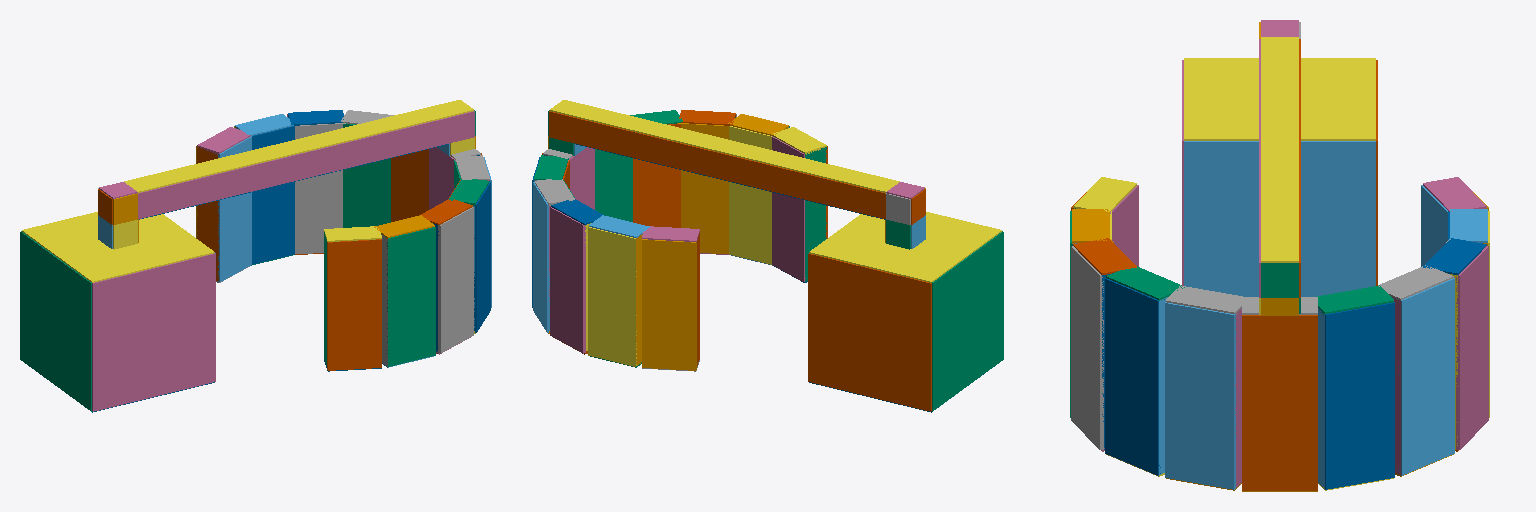
--- What the picture shows (computed from the rendered views, not written in the file) ---
The picture shows the robot from 3 angles, left to right: view 1: azimuth 30°, elevation 25°; view 2: azimuth 150°, elevation 25°; view 3: azimuth 270°, elevation 25°; orthographic projection.
Robot: robot — 105 links, 104 joints (2 continuous, 102 fixed); root link body; default pose: every joint at zero.
Links seen in each view (by area): view 1: body_sensor_0_right, body_sensor_0_stop, arm_sensor_0_right, hand_part_11_sensor_0_left, body_sensor_0_top, hand_part_12_sensor_0_left, arm_sensor_0_top, hand_part_13_sensor_0_left, hand_part_4_sensor_0_right, hand_part_3_sensor_0_right, hand_part_2_sensor_0_right, hand_part_5_sensor_0_right (+15 smaller); view 2: body_sensor_0_left, body_sensor_0_stop, arm_sensor_0_left, hand_part_5_sensor_0_left, body_sensor_0_top, hand_part_4_sensor_0_left, arm_sensor_0_top, hand_part_3_sensor_0_left, hand_part_12_sensor_0_right, hand_part_13_sensor_0_right, hand_part_14_sensor_0_right, hand_part_11_sensor_0_right (+15 smaller); view 3: body_sensor_0_start, hand_part_0_sensor_0_start, hand_part_15_sensor_0_left, body_sensor_0_top, hand_part_1_sensor_0_left, hand_part_2_sensor_0_left, hand_part_14_sensor_0_left, arm_sensor_0_top, hand_part_3_sensor_0_left, hand_part_13_sensor_0_left, hand_part_11_sensor_0_right, hand_part_5_sensor_0_right (+18 smaller).
Link boxes in pixels (bbox=[...]): body_sensor_0_right: bbox=[92, 253, 215, 411]; body_sensor_0_stop: bbox=[20, 231, 91, 411]; arm_sensor_0_right: bbox=[138, 111, 474, 218]; hand_part_11_sensor_0_left: bbox=[327, 239, 381, 370]; body_sensor_0_top: bbox=[22, 212, 214, 282]; hand_part_12_sensor_0_left: bbox=[387, 227, 435, 366]; arm_sensor_0_top: bbox=[124, 100, 473, 192]; hand_part_13_sensor_0_left: bbox=[438, 207, 473, 353]; hand_part_4_sensor_0_right: bbox=[252, 126, 294, 264]; hand_part_3_sensor_0_right: bbox=[295, 123, 345, 253]; hand_part_2_sensor_0_right: bbox=[343, 123, 390, 227]; hand_part_5_sensor_0_right: bbox=[218, 136, 251, 281]; body_sensor_0_left: bbox=[808, 253, 931, 411]; body_sensor_0_stop: bbox=[932, 231, 1003, 411]; arm_sensor_0_left: bbox=[549, 111, 885, 218]; hand_part_5_sensor_0_left: bbox=[642, 239, 696, 370]; body_sensor_0_top: bbox=[809, 212, 1001, 282]; hand_part_4_sensor_0_left: bbox=[588, 227, 636, 366]; arm_sensor_0_top: bbox=[550, 100, 899, 192]; hand_part_3_sensor_0_left: bbox=[550, 207, 585, 353]; hand_part_12_sensor_0_right: bbox=[729, 126, 771, 264]; hand_part_13_sensor_0_right: bbox=[678, 123, 728, 253]; hand_part_14_sensor_0_right: bbox=[633, 123, 680, 227]; hand_part_11_sensor_0_right: bbox=[772, 136, 805, 281]; body_sensor_0_start: bbox=[1184, 141, 1375, 296]; hand_part_0_sensor_0_start: bbox=[1242, 315, 1317, 490]; hand_part_15_sensor_0_left: bbox=[1165, 302, 1235, 489]; body_sensor_0_top: bbox=[1184, 58, 1375, 140]; hand_part_1_sensor_0_left: bbox=[1325, 302, 1394, 489]; hand_part_2_sensor_0_left: bbox=[1399, 278, 1454, 475]; hand_part_14_sensor_0_left: bbox=[1105, 278, 1160, 475]; arm_sensor_0_top: bbox=[1261, 37, 1298, 262]; hand_part_3_sensor_0_left: bbox=[1456, 246, 1488, 449]; hand_part_13_sensor_0_left: bbox=[1071, 246, 1103, 449]; hand_part_11_sensor_0_right: bbox=[1110, 185, 1138, 266]; hand_part_5_sensor_0_right: bbox=[1421, 185, 1447, 266].
Size in the robot's own frame: 3.37 by 2.18 by 1.42 metres.
Geometry: primitives only (box / cylinder / sphere), no mesh files.

The robot description file, URDF, robot "robot":
<?xml version="1.0"?>
    <robot name="robot">


    <!-- body -->
    <link name="body">
        <inertial>
            <origin xyz="0 0 0" rpy="0 0 0"/>
            <mass value="100"/>
            <inertia ixx=".1" ixy=".1" ixz=".1" iyy=".1" iyz=".1" izz=".1"/>
        </inertial>
        <visual>
            <origin xyz="0 0 0" rpy="0 0 0"/>
            <geometry>
                <box size="1 1 1"/>
            </geometry>
        </visual>
        <collision>
            <origin xyz="0 0 0" rpy="0 0 0"/>
            <geometry>
                <box size="1 1 1"/>
            </geometry>
        </collision>
    </link>


    <!-- body_sensor_0_start -->
    <link name="body_sensor_0_start">
        <inertial>
            <origin xyz="0 0 0" rpy="0 0 0"/>
            <mass value="0"/>
            <inertia ixx=".1" ixy=".1" ixz=".1" iyy=".1" iyz=".1" izz=".1"/>
        </inertial>
        <visual>
            <origin xyz="0 0 0" rpy="0 0 0"/>
            <geometry>
                <box size="0.02 1 1"/>
            </geometry>
        </visual>
        <collision>
            <origin xyz="0 0 0" rpy="0 0 0"/>
            <geometry>
                <box size="0.02 1 1"/>
            </geometry>
        </collision>
    </link>
    <!-- Joint: body, body_sensor_0_start -->
    <joint name="body_body_sensor_0_start_joint" type="fixed">
        <parent link="body"/>
        <child link="body_sensor_0_start"/>
        <origin xyz="0.5 0 0"
                rpy="0 0 0"/>
        <axis xyz="0 0 1"/>
        
    </joint>


    <!-- body_sensor_0_stop -->
    <link name="body_sensor_0_stop">
        <inertial>
            <origin xyz="0 0 0" rpy="0 0 0"/>
            <mass value="0"/>
            <inertia ixx=".1" ixy=".1" ixz=".1" iyy=".1" iyz=".1" izz=".1"/>
        </inertial>
        <visual>
            <origin xyz="0 0 0" rpy="0 0 0"/>
            <geometry>
                <box size="0.02 1 1"/>
            </geometry>
        </visual>
        <collision>
            <origin xyz="0 0 0" rpy="0 0 0"/>
            <geometry>
                <box size="0.02 1 1"/>
            </geometry>
        </collision>
    </link>
    <!-- Joint: body, body_sensor_0_stop -->
    <joint name="body_body_sensor_0_stop_joint" type="fixed">
        <parent link="body"/>
        <child link="body_sensor_0_stop"/>
        <origin xyz="-0.5 0 0"
                rpy="0 0 0"/>
        <axis xyz="0 0 1"/>
        
    </joint>


    <!-- body_sensor_0_top -->
    <link name="body_sensor_0_top">
        <inertial>
            <origin xyz="0 0 0" rpy="0 0 0"/>
            <mass value="0"/>
            <inertia ixx=".1" ixy=".1" ixz=".1" iyy=".1" iyz=".1" izz=".1"/>
        </inertial>
        <visual>
            <origin xyz="0 0 0" rpy="0 0 0"/>
            <geometry>
                <box size="1.0 1 0.02"/>
            </geometry>
        </visual>
        <collision>
            <origin xyz="0 0 0" rpy="0 0 0"/>
            <geometry>
                <box size="1.0 1 0.02"/>
            </geometry>
        </collision>
    </link>
    <!-- Joint: body, body_sensor_0_top -->
    <joint name="body_body_sensor_0_top_joint" type="fixed">
        <parent link="body"/>
        <child link="body_sensor_0_top"/>
        <origin xyz="0 0 0.5"
                rpy="0 0 0"/>
        <axis xyz="0 0 1"/>
        
    </joint>


    <!-- body_sensor_0_bottom -->
    <link name="body_sensor_0_bottom">
        <inertial>
            <origin xyz="0 0 0" rpy="0 0 0"/>
            <mass value="0"/>
            <inertia ixx=".1" ixy=".1" ixz=".1" iyy=".1" iyz=".1" izz=".1"/>
        </inertial>
        <visual>
            <origin xyz="0 0 0" rpy="0 0 0"/>
            <geometry>
                <box size="1.0 1 0.02"/>
            </geometry>
        </visual>
        <collision>
            <origin xyz="0 0 0" rpy="0 0 0"/>
            <geometry>
                <box size="1.0 1 0.02"/>
            </geometry>
        </collision>
    </link>
    <!-- Joint: body, body_sensor_0_bottom -->
    <joint name="body_body_sensor_0_bottom_joint" type="fixed">
        <parent link="body"/>
        <child link="body_sensor_0_bottom"/>
        <origin xyz="0 0 -0.5"
                rpy="0 0 0"/>
        <axis xyz="0 0 1"/>
        
    </joint>


    <!-- body_sensor_0_left -->
    <link name="body_sensor_0_left">
        <inertial>
            <origin xyz="0 0 0" rpy="0 0 0"/>
            <mass value="0"/>
            <inertia ixx=".1" ixy=".1" ixz=".1" iyy=".1" iyz=".1" izz=".1"/>
        </inertial>
        <visual>
            <origin xyz="0 0 0" rpy="0 0 0"/>
            <geometry>
                <box size="1.0 0.02 1"/>
            </geometry>
        </visual>
        <collision>
            <origin xyz="0 0 0" rpy="0 0 0"/>
            <geometry>
                <box size="1.0 0.02 1"/>
            </geometry>
        </collision>
    </link>
    <!-- Joint: body, body_sensor_0_left -->
    <joint name="body_body_sensor_0_left_joint" type="fixed">
        <parent link="body"/>
        <child link="body_sensor_0_left"/>
        <origin xyz="0 0.5 0"
                rpy="0 0 0"/>
        <axis xyz="0 0 1"/>
        
    </joint>


    <!-- body_sensor_0_right -->
    <link name="body_sensor_0_right">
        <inertial>
            <origin xyz="0 0 0" rpy="0 0 0"/>
            <mass value="0"/>
            <inertia ixx=".1" ixy=".1" ixz=".1" iyy=".1" iyz=".1" izz=".1"/>
        </inertial>
        <visual>
            <origin xyz="0 0 0" rpy="0 0 0"/>
            <geometry>
                <box size="1.0 0.02 1"/>
            </geometry>
        </visual>
        <collision>
            <origin xyz="0 0 0" rpy="0 0 0"/>
            <geometry>
                <box size="1.0 0.02 1"/>
            </geometry>
        </collision>
    </link>
    <!-- Joint: body, body_sensor_0_right -->
    <joint name="body_body_sensor_0_right_joint" type="fixed">
        <parent link="body"/>
        <child link="body_sensor_0_right"/>
        <origin xyz="0 -0.5 0"
                rpy="0 0 0"/>
        <axis xyz="0 0 1"/>
        
    </joint>


    <!-- joint_1 -->
    <link name="joint_1">
        <inertial>
            <origin xyz="0 0 0" rpy="0 0 0"/>
            <mass value="2"/>
            <inertia ixx=".1" ixy=".1" ixz=".1" iyy=".1" iyz=".1" izz=".1"/>
        </inertial>
        <visual>
            <origin xyz="0 0 0" rpy="0 0 0"/>
            <geometry>
                <box size="0.2 0.2 0.2"/>
            </geometry>
        </visual>
        <collision>
            <origin xyz="0 0 0" rpy="0 0 0"/>
            <geometry>
                <box size="0.2 0.2 0.2"/>
            </geometry>
        </collision>
    </link>


    <!-- joint_1_sensor_0_start -->
    <link name="joint_1_sensor_0_start">
        <inertial>
            <origin xyz="0 0 0" rpy="0 0 0"/>
            <mass value="0"/>
            <inertia ixx=".1" ixy=".1" ixz=".1" iyy=".1" iyz=".1" izz=".1"/>
        </inertial>
        <visual>
            <origin xyz="0 0 0" rpy="0 0 0"/>
            <geometry>
                <box size="0.02 0.2 0.2"/>
            </geometry>
        </visual>
        <collision>
            <origin xyz="0 0 0" rpy="0 0 0"/>
            <geometry>
                <box size="0.02 0.2 0.2"/>
            </geometry>
        </collision>
    </link>
    <!-- Joint: joint_1, joint_1_sensor_0_start -->
    <joint name="joint_1_joint_1_sensor_0_start_joint" type="fixed">
        <parent link="joint_1"/>
        <child link="joint_1_sensor_0_start"/>
        <origin xyz="0.1 0 0"
                rpy="0 0 0"/>
        <axis xyz="0 0 1"/>
        
    </joint>


    <!-- joint_1_sensor_0_stop -->
    <link name="joint_1_sensor_0_stop">
        <inertial>
            <origin xyz="0 0 0" rpy="0 0 0"/>
            <mass value="0"/>
            <inertia ixx=".1" ixy=".1" ixz=".1" iyy=".1" iyz=".1" izz=".1"/>
        </inertial>
        <visual>
            <origin xyz="0 0 0" rpy="0 0 0"/>
            <geometry>
                <box size="0.02 0.2 0.2"/>
            </geometry>
        </visual>
        <collision>
            <origin xyz="0 0 0" rpy="0 0 0"/>
            <geometry>
                <box size="0.02 0.2 0.2"/>
            </geometry>
        </collision>
    </link>
    <!-- Joint: joint_1, joint_1_sensor_0_stop -->
    <joint name="joint_1_joint_1_sensor_0_stop_joint" type="fixed">
        <parent link="joint_1"/>
        <child link="joint_1_sensor_0_stop"/>
        <origin xyz="-0.1 0 0"
                rpy="0 0 0"/>
        <axis xyz="0 0 1"/>
        
    </joint>


    <!-- joint_1_sensor_0_left -->
    <link name="joint_1_sensor_0_left">
        <inertial>
            <origin xyz="0 0 0" rpy="0 0 0"/>
            <mass value="0"/>
            <inertia ixx=".1" ixy=".1" ixz=".1" iyy=".1" iyz=".1" izz=".1"/>
        </inertial>
        <visual>
            <origin xyz="0 0 0" rpy="0 0 0"/>
            <geometry>
                <box size="0.2 0.02 0.2"/>
            </geometry>
        </visual>
        <collision>
            <origin xyz="0 0 0" rpy="0 0 0"/>
            <geometry>
                <box size="0.2 0.02 0.2"/>
            </geometry>
        </collision>
    </link>
    <!-- Joint: joint_1, joint_1_sensor_0_left -->
    <joint name="joint_1_joint_1_sensor_0_left_joint" type="fixed">
        <parent link="joint_1"/>
        <child link="joint_1_sensor_0_left"/>
        <origin xyz="0 0.1 0"
                rpy="0 0 0"/>
        <axis xyz="0 0 1"/>
        
    </joint>


    <!-- joint_1_sensor_0_right -->
    <link name="joint_1_sensor_0_right">
        <inertial>
            <origin xyz="0 0 0" rpy="0 0 0"/>
            <mass value="0"/>
            <inertia ixx=".1" ixy=".1" ixz=".1" iyy=".1" iyz=".1" izz=".1"/>
        </inertial>
        <visual>
            <origin xyz="0 0 0" rpy="0 0 0"/>
            <geometry>
                <box size="0.2 0.02 0.2"/>
            </geometry>
        </visual>
        <collision>
            <origin xyz="0 0 0" rpy="0 0 0"/>
            <geometry>
                <box size="0.2 0.02 0.2"/>
            </geometry>
        </collision>
    </link>
    <!-- Joint: joint_1, joint_1_sensor_0_right -->
    <joint name="joint_1_joint_1_sensor_0_right_joint" type="fixed">
        <parent link="joint_1"/>
        <child link="joint_1_sensor_0_right"/>
        <origin xyz="0 -0.1 0"
                rpy="0 0 0"/>
        <axis xyz="0 0 1"/>
        
    </joint>
    <!-- Joint: body, joint_1 -->
    <joint name="body_joint_1_joint" type="continuous">
        <parent link="body"/>
        <child link="joint_1"/>
        <origin xyz="0 0 0.6"
                rpy="0 0 0"/>
        <axis xyz="0 0 1"/>
        <limit lower="0" upper="0" effort="0" velocity="0"/>
    </joint>


    <!-- joint_2 -->
    <link name="joint_2">
        <inertial>
            <origin xyz="0 0 0" rpy="0 0 0"/>
            <mass value="2"/>
            <inertia ixx=".1" ixy=".1" ixz=".1" iyy=".1" iyz=".1" izz=".1"/>
        </inertial>
        <visual>
            <origin xyz="0 0 0" rpy="0 0 0"/>
            <geometry>
                <box size="0.2 0.2 0.2"/>
            </geometry>
        </visual>
        <collision>
            <origin xyz="0 0 0" rpy="0 0 0"/>
            <geometry>
                <box size="0.2 0.2 0.2"/>
            </geometry>
        </collision>
    </link>


    <!-- joint_2_sensor_0_stop -->
    <link name="joint_2_sensor_0_stop">
        <inertial>
            <origin xyz="0 0 0" rpy="0 0 0"/>
            <mass value="0"/>
            <inertia ixx=".1" ixy=".1" ixz=".1" iyy=".1" iyz=".1" izz=".1"/>
        </inertial>
        <visual>
            <origin xyz="0 0 0" rpy="0 0 0"/>
            <geometry>
                <box size="0.02 0.2 0.2"/>
            </geometry>
        </visual>
        <collision>
            <origin xyz="0 0 0" rpy="0 0 0"/>
            <geometry>
                <box size="0.02 0.2 0.2"/>
            </geometry>
        </collision>
    </link>
    <!-- Joint: joint_2, joint_2_sensor_0_stop -->
    <joint name="joint_2_joint_2_sensor_0_stop_joint" type="fixed">
        <parent link="joint_2"/>
        <child link="joint_2_sensor_0_stop"/>
        <origin xyz="-0.1 0 0"
                rpy="0 0 0"/>
        <axis xyz="0 1 0"/>
        
    </joint>


    <!-- joint_2_sensor_0_top -->
    <link name="joint_2_sensor_0_top">
        <inertial>
            <origin xyz="0 0 0" rpy="0 0 0"/>
            <mass value="0"/>
            <inertia ixx=".1" ixy=".1" ixz=".1" iyy=".1" iyz=".1" izz=".1"/>
        </inertial>
        <visual>
            <origin xyz="0 0 0" rpy="0 0 0"/>
            <geometry>
                <box size="0.2 0.2 0.02"/>
            </geometry>
        </visual>
        <collision>
            <origin xyz="0 0 0" rpy="0 0 0"/>
            <geometry>
                <box size="0.2 0.2 0.02"/>
            </geometry>
        </collision>
    </link>
    <!-- Joint: joint_2, joint_2_sensor_0_top -->
    <joint name="joint_2_joint_2_sensor_0_top_joint" type="fixed">
        <parent link="joint_2"/>
        <child link="joint_2_sensor_0_top"/>
        <origin xyz="0 0 0.1"
                rpy="0 0 0"/>
        <axis xyz="0 1 0"/>
        
    </joint>


    <!-- joint_2_sensor_0_left -->
    <link name="joint_2_sensor_0_left">
        <inertial>
            <origin xyz="0 0 0" rpy="0 0 0"/>
            <mass value="0"/>
            <inertia ixx=".1" ixy=".1" ixz=".1" iyy=".1" iyz=".1" izz=".1"/>
        </inertial>
        <visual>
            <origin xyz="0 0 0" rpy="0 0 0"/>
            <geometry>
                <box size="0.2 0.02 0.2"/>
            </geometry>
        </visual>
        <collision>
            <origin xyz="0 0 0" rpy="0 0 0"/>
            <geometry>
                <box size="0.2 0.02 0.2"/>
            </geometry>
        </collision>
    </link>
    <!-- Joint: joint_2, joint_2_sensor_0_left -->
    <joint name="joint_2_joint_2_sensor_0_left_joint" type="fixed">
        <parent link="joint_2"/>
        <child link="joint_2_sensor_0_left"/>
        <origin xyz="0 0.1 0"
                rpy="0 0 0"/>
        <axis xyz="0 1 0"/>
        
    </joint>


    <!-- joint_2_sensor_0_right -->
    <link name="joint_2_sensor_0_right">
        <inertial>
            <origin xyz="0 0 0" rpy="0 0 0"/>
            <mass value="0"/>
            <inertia ixx=".1" ixy=".1" ixz=".1" iyy=".1" iyz=".1" izz=".1"/>
        </inertial>
        <visual>
            <origin xyz="0 0 0" rpy="0 0 0"/>
            <geometry>
                <box size="0.2 0.02 0.2"/>
            </geometry>
        </visual>
        <collision>
            <origin xyz="0 0 0" rpy="0 0 0"/>
            <geometry>
                <box size="0.2 0.02 0.2"/>
            </geometry>
        </collision>
    </link>
    <!-- Joint: joint_2, joint_2_sensor_0_right -->
    <joint name="joint_2_joint_2_sensor_0_right_joint" type="fixed">
        <parent link="joint_2"/>
        <child link="joint_2_sensor_0_right"/>
        <origin xyz="0 -0.1 0"
                rpy="0 0 0"/>
        <axis xyz="0 1 0"/>
        
    </joint>
    <!-- Joint: joint_1, joint_2 -->
    <joint name="joint_1_joint_2_joint" type="continuous">
        <parent link="joint_1"/>
        <child link="joint_2"/>
        <origin xyz="0 0 0.2"
                rpy="0 0 0"/>
        <axis xyz="0 1 0"/>
        <limit lower="0" upper="0" effort="0" velocity="0"/>
    </joint>


    <!-- arm -->
    <link name="arm">
        <inertial>
            <origin xyz="0 0 0" rpy="0 0 0"/>
            <mass value="2"/>
            <inertia ixx=".1" ixy=".1" ixz=".1" iyy=".1" iyz=".1" izz=".1"/>
        </inertial>
        <visual>
            <origin xyz="0 0 0" rpy="0 0 0"/>
            <geometry>
                <box size="2.75 0.2 0.2"/>
            </geometry>
        </visual>
        <collision>
            <origin xyz="0 0 0" rpy="0 0 0"/>
            <geometry>
                <box size="2.75 0.2 0.2"/>
            </geometry>
        </collision>
    </link>


    <!-- arm_sensor_0_start -->
    <link name="arm_sensor_0_start">
        <inertial>
            <origin xyz="0 0 0" rpy="0 0 0"/>
            <mass value="0"/>
            <inertia ixx=".1" ixy=".1" ixz=".1" iyy=".1" iyz=".1" izz=".1"/>
        </inertial>
        <visual>
            <origin xyz="0 0 0" rpy="0 0 0"/>
            <geometry>
                <box size="0.02 0.2 0.2"/>
            </geometry>
        </visual>
        <collision>
            <origin xyz="0 0 0" rpy="0 0 0"/>
            <geometry>
                <box size="0.02 0.2 0.2"/>
            </geometry>
        </collision>
    </link>
    <!-- Joint: arm, arm_sensor_0_start -->
    <joint name="arm_arm_sensor_0_start_joint" type="fixed">
        <parent link="arm"/>
        <child link="arm_sensor_0_start"/>
        <origin xyz="1.375 0 0"
                rpy="0 0 0"/>
        <axis xyz="0 1 0"/>
        
    </joint>


    <!-- arm_sensor_0_top -->
    <link name="arm_sensor_0_top">
        <inertial>
            <origin xyz="0 0 0" rpy="0 0 0"/>
            <mass value="0"/>
            <inertia ixx=".1" ixy=".1" ixz=".1" iyy=".1" iyz=".1" izz=".1"/>
        </inertial>
        <visual>
            <origin xyz="0 0 0" rpy="0 0 0"/>
            <geometry>
                <box size="2.75 0.2 0.02"/>
            </geometry>
        </visual>
        <collision>
            <origin xyz="0 0 0" rpy="0 0 0"/>
            <geometry>
                <box size="2.75 0.2 0.02"/>
            </geometry>
        </collision>
    </link>
    <!-- Joint: arm, arm_sensor_0_top -->
    <joint name="arm_arm_sensor_0_top_joint" type="fixed">
        <parent link="arm"/>
        <child link="arm_sensor_0_top"/>
        <origin xyz="0 0 0.1"
                rpy="0 0 0"/>
        <axis xyz="0 1 0"/>
        
    </joint>


    <!-- arm_sensor_0_bottom -->
    <link name="arm_sensor_0_bottom">
        <inertial>
            <origin xyz="0 0 0" rpy="0 0 0"/>
            <mass value="0"/>
            <inertia ixx=".1" ixy=".1" ixz=".1" iyy=".1" iyz=".1" izz=".1"/>
        </inertial>
        <visual>
            <origin xyz="0 0 0" rpy="0 0 0"/>
            <geometry>
                <box size="2.75 0.2 0.02"/>
            </geometry>
        </visual>
        <collision>
            <origin xyz="0 0 0" rpy="0 0 0"/>
            <geometry>
                <box size="2.75 0.2 0.02"/>
            </geometry>
        </collision>
    </link>
    <!-- Joint: arm, arm_sensor_0_bottom -->
    <joint name="arm_arm_sensor_0_bottom_joint" type="fixed">
        <parent link="arm"/>
        <child link="arm_sensor_0_bottom"/>
        <origin xyz="0 0 -0.1"
                rpy="0 0 0"/>
        <axis xyz="0 1 0"/>
        
    </joint>


    <!-- arm_sensor_0_left -->
    <link name="arm_sensor_0_left">
        <inertial>
            <origin xyz="0 0 0" rpy="0 0 0"/>
            <mass value="0"/>
            <inertia ixx=".1" ixy=".1" ixz=".1" iyy=".1" iyz=".1" izz=".1"/>
        </inertial>
        <visual>
            <origin xyz="0 0 0" rpy="0 0 0"/>
            <geometry>
                <box size="2.75 0.02 0.2"/>
            </geometry>
        </visual>
        <collision>
            <origin xyz="0 0 0" rpy="0 0 0"/>
            <geometry>
                <box size="2.75 0.02 0.2"/>
            </geometry>
        </collision>
    </link>
    <!-- Joint: arm, arm_sensor_0_left -->
    <joint name="arm_arm_sensor_0_left_joint" type="fixed">
        <parent link="arm"/>
        <child link="arm_sensor_0_left"/>
        <origin xyz="0 0.1 0"
                rpy="0 0 0"/>
        <axis xyz="0 1 0"/>
        
    </joint>


    <!-- arm_sensor_0_right -->
    <link name="arm_sensor_0_right">
        <inertial>
            <origin xyz="0 0 0" rpy="0 0 0"/>
            <mass value="0"/>
            <inertia ixx=".1" ixy=".1" ixz=".1" iyy=".1" iyz=".1" izz=".1"/>
        </inertial>
        <visual>
            <origin xyz="0 0 0" rpy="0 0 0"/>
            <geometry>
                <box size="2.75 0.02 0.2"/>
            </geometry>
        </visual>
        <collision>
            <origin xyz="0 0 0" rpy="0 0 0"/>
            <geometry>
                <box size="2.75 0.02 0.2"/>
            </geometry>
        </collision>
    </link>
    <!-- Joint: arm, arm_sensor_0_right -->
    <joint name="arm_arm_sensor_0_right_joint" type="fixed">
        <parent link="arm"/>
        <child link="arm_sensor_0_right"/>
        <origin xyz="0 -0.1 0"
                rpy="0 0 0"/>
        <axis xyz="0 1 0"/>
        
    </joint>
    <!-- Joint: joint_2, arm -->
    <joint name="joint_2_arm_joint" type="fixed">
        <parent link="joint_2"/>
        <child link="arm"/>
        <origin xyz="1.475 0 0"
                rpy="0 0 0"/>
        <axis xyz="0 1 0"/>
        
    </joint>


    <!-- wrist -->
    <link name="wrist">
        <inertial>
            <origin xyz="0 0 0" rpy="0 0 0"/>
            <mass value="2"/>
            <inertia ixx=".1" ixy=".1" ixz=".1" iyy=".1" iyz=".1" izz=".1"/>
        </inertial>
        <visual>
            <origin xyz="0 0 0" rpy="0 0 0"/>
            <geometry>
                <box size="0.2 0.2 0.1"/>
            </geometry>
        </visual>
        <collision>
            <origin xyz="0 0 0" rpy="0 0 0"/>
            <geometry>
                <box size="0.2 0.2 0.1"/>
            </geometry>
        </collision>
    </link>


    <!-- wrist_sensor_0_start -->
    <link name="wrist_sensor_0_start">
        <inertial>
            <origin xyz="0 0 0" rpy="0 0 0"/>
            <mass value="0"/>
            <inertia ixx=".1" ixy=".1" ixz=".1" iyy=".1" iyz=".1" izz=".1"/>
        </inertial>
        <visual>
            <origin xyz="0 0 0" rpy="0 0 0"/>
            <geometry>
                <box size="0.02 0.2 0.1"/>
            </geometry>
        </visual>
        <collision>
            <origin xyz="0 0 0" rpy="0 0 0"/>
            <geometry>
                <box size="0.02 0.2 0.1"/>
            </geometry>
        </collision>
    </link>
    <!-- Joint: wrist, wrist_sensor_0_start -->
    <joint name="wrist_wrist_sensor_0_start_joint" type="fixed">
        <parent link="wrist"/>
        <child link="wrist_sensor_0_start"/>
        <origin xyz="0.1 0 0"
                rpy="0 0 0"/>
        <axis xyz="0 1 0"/>
        
    </joint>


    <!-- wrist_sensor_0_stop -->
    <link name="wrist_sensor_0_stop">
        <inertial>
            <origin xyz="0 0 0" rpy="0 0 0"/>
            <mass value="0"/>
            <inertia ixx=".1" ixy=".1" ixz=".1" iyy=".1" iyz=".1" izz=".1"/>
        </inertial>
        <visual>
            <origin xyz="0 0 0" rpy="0 0 0"/>
            <geometry>
                <box size="0.02 0.2 0.1"/>
            </geometry>
        </visual>
        <collision>
            <origin xyz="0 0 0" rpy="0 0 0"/>
            <geometry>
                <box size="0.02 0.2 0.1"/>
            </geometry>
        </collision>
    </link>
    <!-- Joint: wrist, wrist_sensor_0_stop -->
    <joint name="wrist_wrist_sensor_0_stop_joint" type="fixed">
        <parent link="wrist"/>
        <child link="wrist_sensor_0_stop"/>
        <origin xyz="-0.1 0 0"
                rpy="0 0 0"/>
        <axis xyz="0 1 0"/>
        
    </joint>


    <!-- wrist_sensor_0_left -->
    <link name="wrist_sensor_0_left">
        <inertial>
            <origin xyz="0 0 0" rpy="0 0 0"/>
            <mass value="0"/>
            <inertia ixx=".1" ixy=".1" ixz=".1" iyy=".1" iyz=".1" izz=".1"/>
        </inertial>
        <visual>
            <origin xyz="0 0 0" rpy="0 0 0"/>
            <geometry>
                <box size="0.2 0.02 0.1"/>
            </geometry>
        </visual>
        <collision>
            <origin xyz="0 0 0" rpy="0 0 0"/>
            <geometry>
                <box size="0.2 0.02 0.1"/>
            </geometry>
        </collision>
    </link>
    <!-- Joint: wrist, wrist_sensor_0_left -->
    <joint name="wrist_wrist_sensor_0_left_joint" type="fixed">
        <parent link="wrist"/>
        <child link="wrist_sensor_0_left"/>
        <origin xyz="0 0.1 0"
                rpy="0 0 0"/>
        <axis xyz="0 1 0"/>
        
    </joint>


    <!-- wrist_sensor_0_right -->
    <link name="wrist_sensor_0_right">
        <inertial>
            <origin xyz="0 0 0" rpy="0 0 0"/>
            <mass value="0"/>
            <inertia ixx=".1" ixy=".1" ixz=".1" iyy=".1" iyz=".1" izz=".1"/>
        </inertial>
        <visual>
            <origin xyz="0 0 0" rpy="0 0 0"/>
            <geometry>
                <box size="0.2 0.02 0.1"/>
            </geometry>
        </visual>
        <collision>
            <origin xyz="0 0 0" rpy="0 0 0"/>
            <geometry>
                <box size="0.2 0.02 0.1"/>
            </geometry>
        </collision>
    </link>
    <!-- Joint: wrist, wrist_sensor_0_right -->
    <joint name="wrist_wrist_sensor_0_right_joint" type="fixed">
        <parent link="wrist"/>
        <child link="wrist_sensor_0_right"/>
        <origin xyz="0 -0.1 0"
                rpy="0 0 0"/>
        <axis xyz="0 1 0"/>
        
    </joint>
    <!-- Joint: arm, wrist -->
    <joint name="arm_wrist_joint" type="fixed">
        <parent link="arm"/>
        <child link="wrist"/>
        <origin xyz="1.275 0 -0.15000000000000002"
                rpy="0 0 0"/>
        <axis xyz="0 1 0"/>
        
    </joint>


    <!-- hand_part_0 -->
    <link name="hand_part_0">
        <inertial>
            <origin xyz="0 0 0" rpy="0 0 0"/>
            <mass value="2"/>
            <inertia ixx=".1" ixy=".1" ixz=".1" iyy=".1" iyz=".1" izz=".1"/>
        </inertial>
        <visual>
            <origin xyz="0 0 0" rpy="0 0 0"/>
            <geometry>
                <box size="0.2 0.3901806440322565 1"/>
            </geometry>
        </visual>
        <collision>
            <origin xyz="0 0 0" rpy="0 0 0"/>
            <geometry>
                <box size="0.2 0.3901806440322565 1"/>
            </geometry>
        </collision>
    </link>


    <!-- hand_part_0_sensor_0_start -->
    <link name="hand_part_0_sensor_0_start">
        <inertial>
            <origin xyz="0 0 0" rpy="0 0 0"/>
            <mass value="0"/>
            <inertia ixx=".1" ixy=".1" ixz=".1" iyy=".1" iyz=".1" izz=".1"/>
        </inertial>
        <visual>
            <origin xyz="0 0 0" rpy="0 0 0"/>
            <geometry>
                <box size="0.02 0.3901806440322565 1"/>
            </geometry>
        </visual>
        <collision>
            <origin xyz="0 0 0" rpy="0 0 0"/>
            <geometry>
                <box size="0.02 0.3901806440322565 1"/>
            </geometry>
        </collision>
    </link>
    <!-- Joint: hand_part_0, hand_part_0_sensor_0_start -->
    <joint name="hand_part_0_hand_part_0_sensor_0_start_joint" type="fixed">
        <parent link="hand_part_0"/>
        <child link="hand_part_0_sensor_0_start"/>
        <origin xyz="0.1 0 0"
                rpy="0 0 0"/>
        <axis xyz="0 1 0"/>
        
    </joint>


    <!-- hand_part_0_sensor_0_stop -->
    <link name="hand_part_0_sensor_0_stop">
        <inertial>
            <origin xyz="0 0 0" rpy="0 0 0"/>
            <mass value="0"/>
            <inertia ixx=".1" ixy=".1" ixz=".1" iyy=".1" iyz=".1" izz=".1"/>
        </inertial>
        <visual>
            <origin xyz="0 0 0" rpy="0 0 0"/>
            <geometry>
                <box size="0.02 0.3901806440322565 1"/>
            </geometry>
        </visual>
        <collision>
            <origin xyz="0 0 0" rpy="0 0 0"/>
            <geometry>
                <box size="0.02 0.3901806440322565 1"/>
            </geometry>
        </collision>
    </link>
    <!-- Joint: hand_part_0, hand_part_0_sensor_0_stop -->
    <joint name="hand_part_0_hand_part_0_sensor_0_stop_joint" type="fixed">
        <parent link="hand_part_0"/>
        <child link="hand_part_0_sensor_0_stop"/>
        <origin xyz="-0.1 0 0"
                rpy="0 0 0"/>
        <axis xyz="0 1 0"/>
        
    </joint>


    <!-- hand_part_0_sensor_0_top -->
    <link name="hand_part_0_sensor_0_top">
        <inertial>
            <origin xyz="0 0 0" rpy="0 0 0"/>
            <mass value="0"/>
            <inertia ixx=".1" ixy=".1" ixz=".1" iyy=".1" iyz=".1" izz=".1"/>
        </inertial>
        <visual>
            <origin xyz="0 0 0" rpy="0 0 0"/>
            <geometry>
                <box size="0.2 0.3901806440322565 0.02"/>
            </geometry>
        </visual>
        <collision>
            <origin xyz="0 0 0" rpy="0 0 0"/>
            <geometry>
                <box size="0.2 0.3901806440322565 0.02"/>
            </geometry>
        </collision>
    </link>
    <!-- Joint: hand_part_0, hand_part_0_sensor_0_top -->
    <joint name="hand_part_0_hand_part_0_sensor_0_top_joint" type="fixed">
        <parent link="hand_part_0"/>
        <child link="hand_part_0_sensor_0_top"/>
        <origin xyz="0 0 0.5"
                rpy="0 0 0"/>
        <axis xyz="0 1 0"/>
        
    </joint>


    <!-- hand_part_0_sensor_0_bottom -->
    <link name="hand_part_0_sensor_0_bottom">
        <inertial>
            <origin xyz="0 0 0" rpy="0 0 0"/>
            <mass value="0"/>
            <inertia ixx=".1" ixy=".1" ixz=".1" iyy=".1" iyz=".1" izz=".1"/>
        </inertial>
        <visual>
            <origin xyz="0 0 0" rpy="0 0 0"/>
            <geometry>
                <box size="0.2 0.3901806440322565 0.02"/>
            </geometry>
        </visual>
        <collision>
            <origin xyz="0 0 0" rpy="0 0 0"/>
            <geometry>
                <box size="0.2 0.3901806440322565 0.02"/>
            </geometry>
        </collision>
    </link>
    <!-- Joint: hand_part_0, hand_part_0_sensor_0_bottom -->
    <joint name="hand_part_0_hand_part_0_sensor_0_bottom_joint" type="fixed">
        <parent link="hand_part_0"/>
        <child link="hand_part_0_sensor_0_bottom"/>
        <origin xyz="0 0 -0.5"
                rpy="0 0 0"/>
        <axis xyz="0 1 0"/>
        
    </joint>
    <!-- Joint: wrist, hand_part_0 -->
    <joint name="wrist_hand_part_0_joint" type="fixed">
        <parent link="wrist"/>
        <child link="hand_part_0"/>
        <origin xyz="0 0 -0.55"
                rpy="0 0 0"/>
        <axis xyz="0 1 0"/>
        
    </joint>


    <!-- hand_part_1 -->
    <link name="hand_part_1">
        <inertial>
            <origin xyz="0 0 0" rpy="0 0 0"/>
            <mass value="2"/>
            <inertia ixx=".1" ixy=".1" ixz=".1" iyy=".1" iyz=".1" izz=".1"/>
        </inertial>
        <visual>
            <origin xyz="0 0 0" rpy="0 0 0"/>
            <geometry>
                <box size="0.3901806440322565 0.2 1"/>
            </geometry>
        </visual>
        <collision>
            <origin xyz="0 0 0" rpy="0 0 0"/>
            <geometry>
                <box size="0.3901806440322565 0.2 1"/>
            </geometry>
        </collision>
    </link>


    <!-- hand_part_1_sensor_0_top -->
    <link name="hand_part_1_sensor_0_top">
        <inertial>
            <origin xyz="0 0 0" rpy="0 0 0"/>
            <mass value="0"/>
            <inertia ixx=".1" ixy=".1" ixz=".1" iyy=".1" iyz=".1" izz=".1"/>
        </inertial>
        <visual>
            <origin xyz="0 0 0" rpy="0 0 0"/>
            <geometry>
                <box size="0.3901806440322565 0.2 0.02"/>
            </geometry>
        </visual>
        <collision>
            <origin xyz="0 0 0" rpy="0 0 0"/>
            <geometry>
                <box size="0.3901806440322565 0.2 0.02"/>
            </geometry>
        </collision>
    </link>
    <!-- Joint: hand_part_1, hand_part_1_sensor_0_top -->
    <joint name="hand_part_1_hand_part_1_sensor_0_top_joint" type="fixed">
        <parent link="hand_part_1"/>
        <child link="hand_part_1_sensor_0_top"/>
        <origin xyz="0 0 0.5"
                rpy="0 0 0"/>
        <axis xyz="0 1 0"/>
        
    </joint>


    <!-- hand_part_1_sensor_0_bottom -->
    <link name="hand_part_1_sensor_0_bottom">
        <inertial>
            <origin xyz="0 0 0" rpy="0 0 0"/>
            <mass value="0"/>
            <inertia ixx=".1" ixy=".1" ixz=".1" iyy=".1" iyz=".1" izz=".1"/>
        </inertial>
        <visual>
            <origin xyz="0 0 0" rpy="0 0 0"/>
            <geometry>
                <box size="0.3901806440322565 0.2 0.02"/>
            </geometry>
        </visual>
        <collision>
            <origin xyz="0 0 0" rpy="0 0 0"/>
            <geometry>
                <box size="0.3901806440322565 0.2 0.02"/>
            </geometry>
        </collision>
    </link>
    <!-- Joint: hand_part_1, hand_part_1_sensor_0_bottom -->
    <joint name="hand_part_1_hand_part_1_sensor_0_bottom_joint" type="fixed">
        <parent link="hand_part_1"/>
        <child link="hand_part_1_sensor_0_bottom"/>
        <origin xyz="0 0 -0.5"
                rpy="0 0 0"/>
        <axis xyz="0 1 0"/>
        
    </joint>


    <!-- hand_part_1_sensor_0_left -->
    <link name="hand_part_1_sensor_0_left">
        <inertial>
            <origin xyz="0 0 0" rpy="0 0 0"/>
            <mass value="0"/>
            <inertia ixx=".1" ixy=".1" ixz=".1" iyy=".1" iyz=".1" izz=".1"/>
        </inertial>
        <visual>
            <origin xyz="0 0 0" rpy="0 0 0"/>
            <geometry>
                <box size="0.3901806440322565 0.02 1"/>
            </geometry>
        </visual>
        <collision>
            <origin xyz="0 0 0" rpy="0 0 0"/>
            <geometry>
                <box size="0.3901806440322565 0.02 1"/>
            </geometry>
        </collision>
    </link>
    <!-- Joint: hand_part_1, hand_part_1_sensor_0_left -->
    <joint name="hand_part_1_hand_part_1_sensor_0_left_joint" type="fixed">
        <parent link="hand_part_1"/>
        <child link="hand_part_1_sensor_0_left"/>
        <origin xyz="0 0.1 0"
                rpy="0 0 0"/>
        <axis xyz="0 1 0"/>
        
    </joint>


    <!-- hand_part_1_sensor_0_right -->
    <link name="hand_part_1_sensor_0_right">
        <inertial>
            <origin xyz="0 0 0" rpy="0 0 0"/>
            <mass value="0"/>
            <inertia ixx=".1" ixy=".1" ixz=".1" iyy=".1" iyz=".1" izz=".1"/>
        </inertial>
        <visual>
            <origin xyz="0 0 0" rpy="0 0 0"/>
            <geometry>
                <box size="0.3901806440322565 0.02 1"/>
            </geometry>
        </visual>
        <collision>
            <origin xyz="0 0 0" rpy="0 0 0"/>
            <geometry>
                <box size="0.3901806440322565 0.02 1"/>
            </geometry>
        </collision>
    </link>
    <!-- Joint: hand_part_1, hand_part_1_sensor_0_right -->
    <joint name="hand_part_1_hand_part_1_sensor_0_right_joint" type="fixed">
        <parent link="hand_part_1"/>
        <child link="hand_part_1_sensor_0_right"/>
        <origin xyz="0 -0.1 0"
                rpy="0 0 0"/>
        <axis xyz="0 1 0"/>
        
    </joint>
    <!-- Joint: hand_part_0, hand_part_1 -->
    <joint name="hand_part_0_hand_part_1_joint" type="fixed">
        <parent link="hand_part_0"/>
        <child link="hand_part_1"/>
        <origin xyz="-0.07465783405034261 0.3753302775178652 0"
                rpy="0 0 -1.1780972450961724"/>
        <axis xyz="0 1 0"/>
        
    </joint>


    <!-- hand_part_2 -->
    <link name="hand_part_2">
        <inertial>
            <origin xyz="0 0 0" rpy="0 0 0"/>
            <mass value="2"/>
            <inertia ixx=".1" ixy=".1" ixz=".1" iyy=".1" iyz=".1" izz=".1"/>
        </inertial>
        <visual>
            <origin xyz="0 0 0" rpy="0 0 0"/>
            <geometry>
                <box size="0.3901806440322565 0.2 1"/>
            </geometry>
        </visual>
        <collision>
            <origin xyz="0 0 0" rpy="0 0 0"/>
            <geometry>
                <box size="0.3901806440322565 0.2 1"/>
            </geometry>
        </collision>
    </link>


    <!-- hand_part_2_sensor_0_top -->
    <link name="hand_part_2_sensor_0_top">
        <inertial>
            <origin xyz="0 0 0" rpy="0 0 0"/>
            <mass value="0"/>
            <inertia ixx=".1" ixy=".1" ixz=".1" iyy=".1" iyz=".1" izz=".1"/>
        </inertial>
        <visual>
            <origin xyz="0 0 0" rpy="0 0 0"/>
            <geometry>
                <box size="0.3901806440322565 0.2 0.02"/>
            </geometry>
        </visual>
        <collision>
            <origin xyz="0 0 0" rpy="0 0 0"/>
            <geometry>
                <box size="0.3901806440322565 0.2 0.02"/>
            </geometry>
        </collision>
    </link>
    <!-- Joint: hand_part_2, hand_part_2_sensor_0_top -->
    <joint name="hand_part_2_hand_part_2_sensor_0_top_joint" type="fixed">
        <parent link="hand_part_2"/>
        <child link="hand_part_2_sensor_0_top"/>
        <origin xyz="0 0 0.5"
                rpy="0 0 0"/>
        <axis xyz="0 1 0"/>
        
    </joint>


    <!-- hand_part_2_sensor_0_bottom -->
    <link name="hand_part_2_sensor_0_bottom">
        <inertial>
            <origin xyz="0 0 0" rpy="0 0 0"/>
            <mass value="0"/>
            <inertia ixx=".1" ixy=".1" ixz=".1" iyy=".1" iyz=".1" izz=".1"/>
        </inertial>
        <visual>
            <origin xyz="0 0 0" rpy="0 0 0"/>
            <geometry>
                <box size="0.3901806440322565 0.2 0.02"/>
            </geometry>
        </visual>
        <collision>
            <origin xyz="0 0 0" rpy="0 0 0"/>
            <geometry>
                <box size="0.3901806440322565 0.2 0.02"/>
            </geometry>
        </collision>
    </link>
    <!-- Joint: hand_part_2, hand_part_2_sensor_0_bottom -->
    <joint name="hand_part_2_hand_part_2_sensor_0_bottom_joint" type="fixed">
        <parent link="hand_part_2"/>
        <child link="hand_part_2_sensor_0_bottom"/>
        <origin xyz="0 0 -0.5"
                rpy="0 0 0"/>
        <axis xyz="0 1 0"/>
        
    </joint>


    <!-- hand_part_2_sensor_0_left -->
    <link name="hand_part_2_sensor_0_left">
        <inertial>
            <origin xyz="0 0 0" rpy="0 0 0"/>
            <mass value="0"/>
            <inertia ixx=".1" ixy=".1" ixz=".1" iyy=".1" iyz=".1" izz=".1"/>
        </inertial>
        <visual>
            <origin xyz="0 0 0" rpy="0 0 0"/>
            <geometry>
                <box size="0.3901806440322565 0.02 1"/>
            </geometry>
        </visual>
        <collision>
            <origin xyz="0 0 0" rpy="0 0 0"/>
            <geometry>
                <box size="0.3901806440322565 0.02 1"/>
            </geometry>
        </collision>
    </link>
    <!-- Joint: hand_part_2, hand_part_2_sensor_0_left -->
    <joint name="hand_part_2_hand_part_2_sensor_0_left_joint" type="fixed">
        <parent link="hand_part_2"/>
        <child link="hand_part_2_sensor_0_left"/>
        <origin xyz="0 0.1 0"
                rpy="0 0 0"/>
        <axis xyz="0 1 0"/>
        
    </joint>


    <!-- hand_part_2_sensor_0_right -->
    <link name="hand_part_2_sensor_0_right">
        <inertial>
            <origin xyz="0 0 0" rpy="0 0 0"/>
            <mass value="0"/>
            <inertia ixx=".1" ixy=".1" ixz=".1" iyy=".1" iyz=".1" izz=".1"/>
        </inertial>
        <visual>
            <origin xyz="0 0 0" rpy="0 0 0"/>
            <geometry>
                <box size="0.3901806440322565 0.02 1"/>
            </geometry>
        </visual>
        <collision>
            <origin xyz="0 0 0" rpy="0 0 0"/>
            <geometry>
                <box size="0.3901806440322565 0.02 1"/>
            </geometry>
        </collision>
    </link>
    <!-- Joint: hand_part_2, hand_part_2_sensor_0_right -->
    <joint name="hand_part_2_hand_part_2_sensor_0_right_joint" type="fixed">
        <parent link="hand_part_2"/>
        <child link="hand_part_2_sensor_0_right"/>
        <origin xyz="0 -0.1 0"
                rpy="0 0 0"/>
        <axis xyz="0 1 0"/>
        
    </joint>
    <!-- Joint: hand_part_0, hand_part_2 -->
    <joint name="hand_part_0_hand_part_2_joint" type="fixed">
        <parent link="hand_part_0"/>
        <child link="hand_part_2"/>
        <origin xyz="-0.2872653577421566 0.6935199226610735 0"
                rpy="0 0 -0.7853981633974483"/>
        <axis xyz="0 1 0"/>
        
    </joint>


    <!-- hand_part_3 -->
    <link name="hand_part_3">
        <inertial>
            <origin xyz="0 0 0" rpy="0 0 0"/>
            <mass value="2"/>
            <inertia ixx=".1" ixy=".1" ixz=".1" iyy=".1" iyz=".1" izz=".1"/>
        </inertial>
        <visual>
            <origin xyz="0 0 0" rpy="0 0 0"/>
            <geometry>
                <box size="0.3901806440322565 0.2 1"/>
            </geometry>
        </visual>
        <collision>
            <origin xyz="0 0 0" rpy="0 0 0"/>
            <geometry>
                <box size="0.3901806440322565 0.2 1"/>
            </geometry>
        </collision>
    </link>


    <!-- hand_part_3_sensor_0_top -->
    <link name="hand_part_3_sensor_0_top">
        <inertial>
            <origin xyz="0 0 0" rpy="0 0 0"/>
            <mass value="0"/>
            <inertia ixx=".1" ixy=".1" ixz=".1" iyy=".1" iyz=".1" izz=".1"/>
        </inertial>
        <visual>
            <origin xyz="0 0 0" rpy="0 0 0"/>
            <geometry>
                <box size="0.3901806440322565 0.2 0.02"/>
            </geometry>
        </visual>
        <collision>
            <origin xyz="0 0 0" rpy="0 0 0"/>
            <geometry>
                <box size="0.3901806440322565 0.2 0.02"/>
            </geometry>
        </collision>
    </link>
    <!-- Joint: hand_part_3, hand_part_3_sensor_0_top -->
    <joint name="hand_part_3_hand_part_3_sensor_0_top_joint" type="fixed">
        <parent link="hand_part_3"/>
        <child link="hand_part_3_sensor_0_top"/>
        <origin xyz="0 0 0.5"
                rpy="0 0 0"/>
        <axis xyz="0 1 0"/>
        
    </joint>


    <!-- hand_part_3_sensor_0_bottom -->
    <link name="hand_part_3_sensor_0_bottom">
        <inertial>
            <origin xyz="0 0 0" rpy="0 0 0"/>
            <mass value="0"/>
            <inertia ixx=".1" ixy=".1" ixz=".1" iyy=".1" iyz=".1" izz=".1"/>
        </inertial>
        <visual>
            <origin xyz="0 0 0" rpy="0 0 0"/>
            <geometry>
                <box size="0.3901806440322565 0.2 0.02"/>
            </geometry>
        </visual>
        <collision>
            <origin xyz="0 0 0" rpy="0 0 0"/>
            <geometry>
                <box size="0.3901806440322565 0.2 0.02"/>
            </geometry>
        </collision>
    </link>
    <!-- Joint: hand_part_3, hand_part_3_sensor_0_bottom -->
    <joint name="hand_part_3_hand_part_3_sensor_0_bottom_joint" type="fixed">
        <parent link="hand_part_3"/>
        <child link="hand_part_3_sensor_0_bottom"/>
        <origin xyz="0 0 -0.5"
                rpy="0 0 0"/>
        <axis xyz="0 1 0"/>
        
    </joint>


    <!-- hand_part_3_sensor_0_left -->
    <link name="hand_part_3_sensor_0_left">
        <inertial>
            <origin xyz="0 0 0" rpy="0 0 0"/>
            <mass value="0"/>
            <inertia ixx=".1" ixy=".1" ixz=".1" iyy=".1" iyz=".1" izz=".1"/>
        </inertial>
        <visual>
            <origin xyz="0 0 0" rpy="0 0 0"/>
            <geometry>
                <box size="0.3901806440322565 0.02 1"/>
            </geometry>
        </visual>
        <collision>
            <origin xyz="0 0 0" rpy="0 0 0"/>
            <geometry>
                <box size="0.3901806440322565 0.02 1"/>
            </geometry>
        </collision>
    </link>
    <!-- Joint: hand_part_3, hand_part_3_sensor_0_left -->
    <joint name="hand_part_3_hand_part_3_sensor_0_left_joint" type="fixed">
        <parent link="hand_part_3"/>
        <child link="hand_part_3_sensor_0_left"/>
        <origin xyz="0 0.1 0"
                rpy="0 0 0"/>
        <axis xyz="0 1 0"/>
        
    </joint>


    <!-- hand_part_3_sensor_0_right -->
    <link name="hand_part_3_sensor_0_right">
        <inertial>
            <origin xyz="0 0 0" rpy="0 0 0"/>
            <mass value="0"/>
            <inertia ixx=".1" ixy=".1" ixz=".1" iyy=".1" iyz=".1" izz=".1"/>
        </inertial>
        <visual>
            <origin xyz="0 0 0" rpy="0 0 0"/>
            <geometry>
                <box size="0.3901806440322565 0.02 1"/>
            </geometry>
        </visual>
        <collision>
            <origin xyz="0 0 0" rpy="0 0 0"/>
            <geometry>
                <box size="0.3901806440322565 0.02 1"/>
            </geometry>
        </collision>
    </link>
    <!-- Joint: hand_part_3, hand_part_3_sensor_0_right -->
    <joint name="hand_part_3_hand_part_3_sensor_0_right_joint" type="fixed">
        <parent link="hand_part_3"/>
        <child link="hand_part_3_sensor_0_right"/>
        <origin xyz="0 -0.1 0"
                rpy="0 0 0"/>
        <axis xyz="0 1 0"/>
        
    </joint>
    <!-- Joint: hand_part_0, hand_part_3 -->
    <joint name="hand_part_0_hand_part_3_joint" type="fixed">
        <parent link="hand_part_0"/>
        <child link="hand_part_3"/>
        <origin xyz="-0.605455002885365 0.9061274463528877 0"
                rpy="0 0 -0.39269908169872414"/>
        <axis xyz="0 1 0"/>
        
    </joint>


    <!-- hand_part_4 -->
    <link name="hand_part_4">
        <inertial>
            <origin xyz="0 0 0" rpy="0 0 0"/>
            <mass value="2"/>
            <inertia ixx=".1" ixy=".1" ixz=".1" iyy=".1" iyz=".1" izz=".1"/>
        </inertial>
        <visual>
            <origin xyz="0 0 0" rpy="0 0 0"/>
            <geometry>
                <box size="0.3901806440322565 0.2 1"/>
            </geometry>
        </visual>
        <collision>
            <origin xyz="0 0 0" rpy="0 0 0"/>
            <geometry>
                <box size="0.3901806440322565 0.2 1"/>
            </geometry>
        </collision>
    </link>


    <!-- hand_part_4_sensor_0_top -->
    <link name="hand_part_4_sensor_0_top">
        <inertial>
            <origin xyz="0 0 0" rpy="0 0 0"/>
            <mass value="0"/>
            <inertia ixx=".1" ixy=".1" ixz=".1" iyy=".1" iyz=".1" izz=".1"/>
        </inertial>
        <visual>
            <origin xyz="0 0 0" rpy="0 0 0"/>
            <geometry>
                <box size="0.3901806440322565 0.2 0.02"/>
            </geometry>
        </visual>
        <collision>
            <origin xyz="0 0 0" rpy="0 0 0"/>
            <geometry>
                <box size="0.3901806440322565 0.2 0.02"/>
            </geometry>
        </collision>
    </link>
    <!-- Joint: hand_part_4, hand_part_4_sensor_0_top -->
    <joint name="hand_part_4_hand_part_4_sensor_0_top_joint" type="fixed">
        <parent link="hand_part_4"/>
        <child link="hand_part_4_sensor_0_top"/>
        <origin xyz="0 0 0.5"
                rpy="0 0 0"/>
        <axis xyz="0 1 0"/>
        
    </joint>


    <!-- hand_part_4_sensor_0_bottom -->
    <link name="hand_part_4_sensor_0_bottom">
        <inertial>
            <origin xyz="0 0 0" rpy="0 0 0"/>
            <mass value="0"/>
            <inertia ixx=".1" ixy=".1" ixz=".1" iyy=".1" iyz=".1" izz=".1"/>
        </inertial>
        <visual>
            <origin xyz="0 0 0" rpy="0 0 0"/>
            <geometry>
                <box size="0.3901806440322565 0.2 0.02"/>
            </geometry>
        </visual>
        <collision>
            <origin xyz="0 0 0" rpy="0 0 0"/>
            <geometry>
                <box size="0.3901806440322565 0.2 0.02"/>
            </geometry>
        </collision>
    </link>
    <!-- Joint: hand_part_4, hand_part_4_sensor_0_bottom -->
    <joint name="hand_part_4_hand_part_4_sensor_0_bottom_joint" type="fixed">
        <parent link="hand_part_4"/>
        <child link="hand_part_4_sensor_0_bottom"/>
        <origin xyz="0 0 -0.5"
                rpy="0 0 0"/>
        <axis xyz="0 1 0"/>
        
    </joint>


    <!-- hand_part_4_sensor_0_left -->
    <link name="hand_part_4_sensor_0_left">
        <inertial>
            <origin xyz="0 0 0" rpy="0 0 0"/>
            <mass value="0"/>
            <inertia ixx=".1" ixy=".1" ixz=".1" iyy=".1" iyz=".1" izz=".1"/>
        </inertial>
        <visual>
            <origin xyz="0 0 0" rpy="0 0 0"/>
            <geometry>
                <box size="0.3901806440322565 0.02 1"/>
            </geometry>
        </visual>
        <collision>
            <origin xyz="0 0 0" rpy="0 0 0"/>
            <geometry>
                <box size="0.3901806440322565 0.02 1"/>
            </geometry>
        </collision>
    </link>
    <!-- Joint: hand_part_4, hand_part_4_sensor_0_left -->
    <joint name="hand_part_4_hand_part_4_sensor_0_left_joint" type="fixed">
        <parent link="hand_part_4"/>
        <child link="hand_part_4_sensor_0_left"/>
        <origin xyz="0 0.1 0"
                rpy="0 0 0"/>
        <axis xyz="0 1 0"/>
        
    </joint>


    <!-- hand_part_4_sensor_0_right -->
    <link name="hand_part_4_sensor_0_right">
        <inertial>
            <origin xyz="0 0 0" rpy="0 0 0"/>
            <mass value="0"/>
            <inertia ixx=".1" ixy=".1" ixz=".1" iyy=".1" iyz=".1" izz=".1"/>
        </inertial>
        <visual>
            <origin xyz="0 0 0" rpy="0 0 0"/>
            <geometry>
                <box size="0.3901806440322565 0.02 1"/>
            </geometry>
        </visual>
        <collision>
            <origin xyz="0 0 0" rpy="0 0 0"/>
            <geometry>
                <box size="0.3901806440322565 0.02 1"/>
            </geometry>
        </collision>
    </link>
    <!-- Joint: hand_part_4, hand_part_4_sensor_0_right -->
    <joint name="hand_part_4_hand_part_4_sensor_0_right_joint" type="fixed">
        <parent link="hand_part_4"/>
        <child link="hand_part_4_sensor_0_right"/>
        <origin xyz="0 -0.1 0"
                rpy="0 0 0"/>
        <axis xyz="0 1 0"/>
        
    </joint>
    <!-- Joint: hand_part_0, hand_part_4 -->
    <joint name="hand_part_0_hand_part_4_joint" type="fixed">
        <parent link="hand_part_0"/>
        <child link="hand_part_4"/>
        <origin xyz="-0.9807852804032302 0.9807852804032303 0"
                rpy="0 0 0.0"/>
        <axis xyz="0 1 0"/>
        
    </joint>


    <!-- hand_part_5 -->
    <link name="hand_part_5">
        <inertial>
            <origin xyz="0 0 0" rpy="0 0 0"/>
            <mass value="2"/>
            <inertia ixx=".1" ixy=".1" ixz=".1" iyy=".1" iyz=".1" izz=".1"/>
        </inertial>
        <visual>
            <origin xyz="0 0 0" rpy="0 0 0"/>
            <geometry>
                <box size="0.3901806440322565 0.2 1"/>
            </geometry>
        </visual>
        <collision>
            <origin xyz="0 0 0" rpy="0 0 0"/>
            <geometry>
                <box size="0.3901806440322565 0.2 1"/>
            </geometry>
        </collision>
    </link>


    <!-- hand_part_5_sensor_0_top -->
    <link name="hand_part_5_sensor_0_top">
        <inertial>
            <origin xyz="0 0 0" rpy="0 0 0"/>
            <mass value="0"/>
            <inertia ixx=".1" ixy=".1" ixz=".1" iyy=".1" iyz=".1" izz=".1"/>
        </inertial>
        <visual>
            <origin xyz="0 0 0" rpy="0 0 0"/>
            <geometry>
                <box size="0.3901806440322565 0.2 0.02"/>
            </geometry>
        </visual>
        <collision>
            <origin xyz="0 0 0" rpy="0 0 0"/>
            <geometry>
                <box size="0.3901806440322565 0.2 0.02"/>
            </geometry>
        </collision>
    </link>
    <!-- Joint: hand_part_5, hand_part_5_sensor_0_top -->
    <joint name="hand_part_5_hand_part_5_sensor_0_top_joint" type="fixed">
        <parent link="hand_part_5"/>
        <child link="hand_part_5_sensor_0_top"/>
        <origin xyz="0 0 0.5"
                rpy="0 0 0"/>
        <axis xyz="0 1 0"/>
        
    </joint>


    <!-- hand_part_5_sensor_0_bottom -->
    <link name="hand_part_5_sensor_0_bottom">
        <inertial>
            <origin xyz="0 0 0" rpy="0 0 0"/>
            <mass value="0"/>
            <inertia ixx=".1" ixy=".1" ixz=".1" iyy=".1" iyz=".1" izz=".1"/>
        </inertial>
        <visual>
            <origin xyz="0 0 0" rpy="0 0 0"/>
            <geometry>
                <box size="0.3901806440322565 0.2 0.02"/>
            </geometry>
        </visual>
        <collision>
            <origin xyz="0 0 0" rpy="0 0 0"/>
            <geometry>
                <box size="0.3901806440322565 0.2 0.02"/>
            </geometry>
        </collision>
    </link>
    <!-- Joint: hand_part_5, hand_part_5_sensor_0_bottom -->
    <joint name="hand_part_5_hand_part_5_sensor_0_bottom_joint" type="fixed">
        <parent link="hand_part_5"/>
        <child link="hand_part_5_sensor_0_bottom"/>
        <origin xyz="0 0 -0.5"
                rpy="0 0 0"/>
        <axis xyz="0 1 0"/>
        
    </joint>


    <!-- hand_part_5_sensor_0_left -->
    <link name="hand_part_5_sensor_0_left">
        <inertial>
            <origin xyz="0 0 0" rpy="0 0 0"/>
            <mass value="0"/>
            <inertia ixx=".1" ixy=".1" ixz=".1" iyy=".1" iyz=".1" izz=".1"/>
        </inertial>
        <visual>
            <origin xyz="0 0 0" rpy="0 0 0"/>
            <geometry>
                <box size="0.3901806440322565 0.02 1"/>
            </geometry>
        </visual>
        <collision>
            <origin xyz="0 0 0" rpy="0 0 0"/>
            <geometry>
                <box size="0.3901806440322565 0.02 1"/>
            </geometry>
        </collision>
    </link>
    <!-- Joint: hand_part_5, hand_part_5_sensor_0_left -->
    <joint name="hand_part_5_hand_part_5_sensor_0_left_joint" type="fixed">
        <parent link="hand_part_5"/>
        <child link="hand_part_5_sensor_0_left"/>
        <origin xyz="0 0.1 0"
                rpy="0 0 0"/>
        <axis xyz="0 1 0"/>
        
    </joint>


    <!-- hand_part_5_sensor_0_right -->
    <link name="hand_part_5_sensor_0_right">
        <inertial>
            <origin xyz="0 0 0" rpy="0 0 0"/>
            <mass value="0"/>
            <inertia ixx=".1" ixy=".1" ixz=".1" iyy=".1" iyz=".1" izz=".1"/>
        </inertial>
        <visual>
            <origin xyz="0 0 0" rpy="0 0 0"/>
            <geometry>
                <box size="0.3901806440322565 0.02 1"/>
            </geometry>
        </visual>
        <collision>
            <origin xyz="0 0 0" rpy="0 0 0"/>
            <geometry>
                <box size="0.3901806440322565 0.02 1"/>
            </geometry>
        </collision>
    </link>
    <!-- Joint: hand_part_5, hand_part_5_sensor_0_right -->
    <joint name="hand_part_5_hand_part_5_sensor_0_right_joint" type="fixed">
        <parent link="hand_part_5"/>
        <child link="hand_part_5_sensor_0_right"/>
        <origin xyz="0 -0.1 0"
                rpy="0 0 0"/>
        <axis xyz="0 1 0"/>
        
    </joint>
    <!-- Joint: hand_part_0, hand_part_5 -->
    <joint name="hand_part_0_hand_part_5_joint" type="fixed">
        <parent link="hand_part_0"/>
        <child link="hand_part_5"/>
        <origin xyz="-1.3561155579210953 0.9061274463528877 0"
                rpy="0 0 0.39269908169872414"/>
        <axis xyz="0 1 0"/>
        
    </joint>


    <!-- hand_part_11 -->
    <link name="hand_part_11">
        <inertial>
            <origin xyz="0 0 0" rpy="0 0 0"/>
            <mass value="2"/>
            <inertia ixx=".1" ixy=".1" ixz=".1" iyy=".1" iyz=".1" izz=".1"/>
        </inertial>
        <visual>
            <origin xyz="0 0 0" rpy="0 0 0"/>
            <geometry>
                <box size="0.3901806440322565 0.2 1"/>
            </geometry>
        </visual>
        <collision>
            <origin xyz="0 0 0" rpy="0 0 0"/>
            <geometry>
                <box size="0.3901806440322565 0.2 1"/>
            </geometry>
        </collision>
    </link>


    <!-- hand_part_11_sensor_0_top -->
    <link name="hand_part_11_sensor_0_top">
        <inertial>
            <origin xyz="0 0 0" rpy="0 0 0"/>
            <mass value="0"/>
            <inertia ixx=".1" ixy=".1" ixz=".1" iyy=".1" iyz=".1" izz=".1"/>
        </inertial>
        <visual>
            <origin xyz="0 0 0" rpy="0 0 0"/>
            <geometry>
                <box size="0.3901806440322565 0.2 0.02"/>
            </geometry>
        </visual>
        <collision>
            <origin xyz="0 0 0" rpy="0 0 0"/>
            <geometry>
                <box size="0.3901806440322565 0.2 0.02"/>
            </geometry>
        </collision>
    </link>
    <!-- Joint: hand_part_11, hand_part_11_sensor_0_top -->
    <joint name="hand_part_11_hand_part_11_sensor_0_top_joint" type="fixed">
        <parent link="hand_part_11"/>
        <child link="hand_part_11_sensor_0_top"/>
        <origin xyz="0 0 0.5"
                rpy="0 0 0"/>
        <axis xyz="0 1 0"/>
        
    </joint>


    <!-- hand_part_11_sensor_0_bottom -->
    <link name="hand_part_11_sensor_0_bottom">
        <inertial>
            <origin xyz="0 0 0" rpy="0 0 0"/>
            <mass value="0"/>
            <inertia ixx=".1" ixy=".1" ixz=".1" iyy=".1" iyz=".1" izz=".1"/>
        </inertial>
        <visual>
            <origin xyz="0 0 0" rpy="0 0 0"/>
            <geometry>
                <box size="0.3901806440322565 0.2 0.02"/>
            </geometry>
        </visual>
        <collision>
            <origin xyz="0 0 0" rpy="0 0 0"/>
            <geometry>
                <box size="0.3901806440322565 0.2 0.02"/>
            </geometry>
        </collision>
    </link>
    <!-- Joint: hand_part_11, hand_part_11_sensor_0_bottom -->
    <joint name="hand_part_11_hand_part_11_sensor_0_bottom_joint" type="fixed">
        <parent link="hand_part_11"/>
        <child link="hand_part_11_sensor_0_bottom"/>
        <origin xyz="0 0 -0.5"
                rpy="0 0 0"/>
        <axis xyz="0 1 0"/>
        
    </joint>


    <!-- hand_part_11_sensor_0_left -->
    <link name="hand_part_11_sensor_0_left">
        <inertial>
            <origin xyz="0 0 0" rpy="0 0 0"/>
            <mass value="0"/>
            <inertia ixx=".1" ixy=".1" ixz=".1" iyy=".1" iyz=".1" izz=".1"/>
        </inertial>
        <visual>
            <origin xyz="0 0 0" rpy="0 0 0"/>
            <geometry>
                <box size="0.3901806440322565 0.02 1"/>
            </geometry>
        </visual>
        <collision>
            <origin xyz="0 0 0" rpy="0 0 0"/>
            <geometry>
                <box size="0.3901806440322565 0.02 1"/>
            </geometry>
        </collision>
    </link>
    <!-- Joint: hand_part_11, hand_part_11_sensor_0_left -->
    <joint name="hand_part_11_hand_part_11_sensor_0_left_joint" type="fixed">
        <parent link="hand_part_11"/>
        <child link="hand_part_11_sensor_0_left"/>
        <origin xyz="0 0.1 0"
                rpy="0 0 0"/>
        <axis xyz="0 1 0"/>
        
    </joint>


    <!-- hand_part_11_sensor_0_right -->
    <link name="hand_part_11_sensor_0_right">
        <inertial>
            <origin xyz="0 0 0" rpy="0 0 0"/>
            <mass value="0"/>
            <inertia ixx=".1" ixy=".1" ixz=".1" iyy=".1" iyz=".1" izz=".1"/>
        </inertial>
        <visual>
            <origin xyz="0 0 0" rpy="0 0 0"/>
            <geometry>
                <box size="0.3901806440322565 0.02 1"/>
            </geometry>
        </visual>
        <collision>
            <origin xyz="0 0 0" rpy="0 0 0"/>
            <geometry>
                <box size="0.3901806440322565 0.02 1"/>
            </geometry>
        </collision>
    </link>
    <!-- Joint: hand_part_11, hand_part_11_sensor_0_right -->
    <joint name="hand_part_11_hand_part_11_sensor_0_right_joint" type="fixed">
        <parent link="hand_part_11"/>
        <child link="hand_part_11_sensor_0_right"/>
        <origin xyz="0 -0.1 0"
                rpy="0 0 0"/>
        <axis xyz="0 1 0"/>
        
    </joint>
    <!-- Joint: hand_part_0, hand_part_11 -->
    <joint name="hand_part_0_hand_part_11_joint" type="fixed">
        <parent link="hand_part_0"/>
        <child link="hand_part_11"/>
        <origin xyz="-1.356115557921096 -0.9061274463528874 0"
                rpy="0 0 2.7488935718910685"/>
        <axis xyz="0 1 0"/>
        
    </joint>


    <!-- hand_part_12 -->
    <link name="hand_part_12">
        <inertial>
            <origin xyz="0 0 0" rpy="0 0 0"/>
            <mass value="2"/>
            <inertia ixx=".1" ixy=".1" ixz=".1" iyy=".1" iyz=".1" izz=".1"/>
        </inertial>
        <visual>
            <origin xyz="0 0 0" rpy="0 0 0"/>
            <geometry>
                <box size="0.3901806440322565 0.2 1"/>
            </geometry>
        </visual>
        <collision>
            <origin xyz="0 0 0" rpy="0 0 0"/>
            <geometry>
                <box size="0.3901806440322565 0.2 1"/>
            </geometry>
        </collision>
    </link>


    <!-- hand_part_12_sensor_0_top -->
    <link name="hand_part_12_sensor_0_top">
        <inertial>
            <origin xyz="0 0 0" rpy="0 0 0"/>
            <mass value="0"/>
            <inertia ixx=".1" ixy=".1" ixz=".1" iyy=".1" iyz=".1" izz=".1"/>
        </inertial>
        <visual>
            <origin xyz="0 0 0" rpy="0 0 0"/>
            <geometry>
                <box size="0.3901806440322565 0.2 0.02"/>
            </geometry>
        </visual>
        <collision>
            <origin xyz="0 0 0" rpy="0 0 0"/>
            <geometry>
                <box size="0.3901806440322565 0.2 0.02"/>
            </geometry>
        </collision>
    </link>
    <!-- Joint: hand_part_12, hand_part_12_sensor_0_top -->
    <joint name="hand_part_12_hand_part_12_sensor_0_top_joint" type="fixed">
        <parent link="hand_part_12"/>
        <child link="hand_part_12_sensor_0_top"/>
        <origin xyz="0 0 0.5"
                rpy="0 0 0"/>
        <axis xyz="0 1 0"/>
        
    </joint>


    <!-- hand_part_12_sensor_0_bottom -->
    <link name="hand_part_12_sensor_0_bottom">
        <inertial>
            <origin xyz="0 0 0" rpy="0 0 0"/>
            <mass value="0"/>
            <inertia ixx=".1" ixy=".1" ixz=".1" iyy=".1" iyz=".1" izz=".1"/>
        </inertial>
        <visual>
            <origin xyz="0 0 0" rpy="0 0 0"/>
            <geometry>
                <box size="0.3901806440322565 0.2 0.02"/>
            </geometry>
        </visual>
        <collision>
            <origin xyz="0 0 0" rpy="0 0 0"/>
            <geometry>
                <box size="0.3901806440322565 0.2 0.02"/>
            </geometry>
        </collision>
    </link>
    <!-- Joint: hand_part_12, hand_part_12_sensor_0_bottom -->
    <joint name="hand_part_12_hand_part_12_sensor_0_bottom_joint" type="fixed">
        <parent link="hand_part_12"/>
        <child link="hand_part_12_sensor_0_bottom"/>
        <origin xyz="0 0 -0.5"
                rpy="0 0 0"/>
        <axis xyz="0 1 0"/>
        
    </joint>


    <!-- hand_part_12_sensor_0_left -->
    <link name="hand_part_12_sensor_0_left">
        <inertial>
            <origin xyz="0 0 0" rpy="0 0 0"/>
            <mass value="0"/>
            <inertia ixx=".1" ixy=".1" ixz=".1" iyy=".1" iyz=".1" izz=".1"/>
        </inertial>
        <visual>
            <origin xyz="0 0 0" rpy="0 0 0"/>
            <geometry>
                <box size="0.3901806440322565 0.02 1"/>
            </geometry>
        </visual>
        <collision>
            <origin xyz="0 0 0" rpy="0 0 0"/>
            <geometry>
                <box size="0.3901806440322565 0.02 1"/>
            </geometry>
        </collision>
    </link>
    <!-- Joint: hand_part_12, hand_part_12_sensor_0_left -->
    <joint name="hand_part_12_hand_part_12_sensor_0_left_joint" type="fixed">
        <parent link="hand_part_12"/>
        <child link="hand_part_12_sensor_0_left"/>
        <origin xyz="0 0.1 0"
                rpy="0 0 0"/>
        <axis xyz="0 1 0"/>
        
    </joint>


    <!-- hand_part_12_sensor_0_right -->
    <link name="hand_part_12_sensor_0_right">
        <inertial>
            <origin xyz="0 0 0" rpy="0 0 0"/>
            <mass value="0"/>
            <inertia ixx=".1" ixy=".1" ixz=".1" iyy=".1" iyz=".1" izz=".1"/>
        </inertial>
        <visual>
            <origin xyz="0 0 0" rpy="0 0 0"/>
            <geometry>
                <box size="0.3901806440322565 0.02 1"/>
            </geometry>
        </visual>
        <collision>
            <origin xyz="0 0 0" rpy="0 0 0"/>
            <geometry>
                <box size="0.3901806440322565 0.02 1"/>
            </geometry>
        </collision>
    </link>
    <!-- Joint: hand_part_12, hand_part_12_sensor_0_right -->
    <joint name="hand_part_12_hand_part_12_sensor_0_right_joint" type="fixed">
        <parent link="hand_part_12"/>
        <child link="hand_part_12_sensor_0_right"/>
        <origin xyz="0 -0.1 0"
                rpy="0 0 0"/>
        <axis xyz="0 1 0"/>
        
    </joint>
    <!-- Joint: hand_part_0, hand_part_12 -->
    <joint name="hand_part_0_hand_part_12_joint" type="fixed">
        <parent link="hand_part_0"/>
        <child link="hand_part_12"/>
        <origin xyz="-0.9807852804032305 -0.9807852804032303 0"
                rpy="0 0 3.141592653589793"/>
        <axis xyz="0 1 0"/>
        
    </joint>


    <!-- hand_part_13 -->
    <link name="hand_part_13">
        <inertial>
            <origin xyz="0 0 0" rpy="0 0 0"/>
            <mass value="2"/>
            <inertia ixx=".1" ixy=".1" ixz=".1" iyy=".1" iyz=".1" izz=".1"/>
        </inertial>
        <visual>
            <origin xyz="0 0 0" rpy="0 0 0"/>
            <geometry>
                <box size="0.3901806440322565 0.2 1"/>
            </geometry>
        </visual>
        <collision>
            <origin xyz="0 0 0" rpy="0 0 0"/>
            <geometry>
                <box size="0.3901806440322565 0.2 1"/>
            </geometry>
        </collision>
    </link>


    <!-- hand_part_13_sensor_0_top -->
    <link name="hand_part_13_sensor_0_top">
        <inertial>
            <origin xyz="0 0 0" rpy="0 0 0"/>
            <mass value="0"/>
            <inertia ixx=".1" ixy=".1" ixz=".1" iyy=".1" iyz=".1" izz=".1"/>
        </inertial>
        <visual>
            <origin xyz="0 0 0" rpy="0 0 0"/>
            <geometry>
                <box size="0.3901806440322565 0.2 0.02"/>
            </geometry>
        </visual>
        <collision>
            <origin xyz="0 0 0" rpy="0 0 0"/>
            <geometry>
                <box size="0.3901806440322565 0.2 0.02"/>
            </geometry>
        </collision>
    </link>
    <!-- Joint: hand_part_13, hand_part_13_sensor_0_top -->
    <joint name="hand_part_13_hand_part_13_sensor_0_top_joint" type="fixed">
        <parent link="hand_part_13"/>
        <child link="hand_part_13_sensor_0_top"/>
        <origin xyz="0 0 0.5"
                rpy="0 0 0"/>
        <axis xyz="0 1 0"/>
        
    </joint>


    <!-- hand_part_13_sensor_0_bottom -->
    <link name="hand_part_13_sensor_0_bottom">
        <inertial>
            <origin xyz="0 0 0" rpy="0 0 0"/>
            <mass value="0"/>
            <inertia ixx=".1" ixy=".1" ixz=".1" iyy=".1" iyz=".1" izz=".1"/>
        </inertial>
        <visual>
            <origin xyz="0 0 0" rpy="0 0 0"/>
            <geometry>
                <box size="0.3901806440322565 0.2 0.02"/>
            </geometry>
        </visual>
        <collision>
            <origin xyz="0 0 0" rpy="0 0 0"/>
            <geometry>
                <box size="0.3901806440322565 0.2 0.02"/>
            </geometry>
        </collision>
    </link>
    <!-- Joint: hand_part_13, hand_part_13_sensor_0_bottom -->
    <joint name="hand_part_13_hand_part_13_sensor_0_bottom_joint" type="fixed">
        <parent link="hand_part_13"/>
        <child link="hand_part_13_sensor_0_bottom"/>
        <origin xyz="0 0 -0.5"
                rpy="0 0 0"/>
        <axis xyz="0 1 0"/>
        
    </joint>


    <!-- hand_part_13_sensor_0_left -->
    <link name="hand_part_13_sensor_0_left">
        <inertial>
            <origin xyz="0 0 0" rpy="0 0 0"/>
            <mass value="0"/>
            <inertia ixx=".1" ixy=".1" ixz=".1" iyy=".1" iyz=".1" izz=".1"/>
        </inertial>
        <visual>
            <origin xyz="0 0 0" rpy="0 0 0"/>
            <geometry>
                <box size="0.3901806440322565 0.02 1"/>
            </geometry>
        </visual>
        <collision>
            <origin xyz="0 0 0" rpy="0 0 0"/>
            <geometry>
                <box size="0.3901806440322565 0.02 1"/>
            </geometry>
        </collision>
    </link>
    <!-- Joint: hand_part_13, hand_part_13_sensor_0_left -->
    <joint name="hand_part_13_hand_part_13_sensor_0_left_joint" type="fixed">
        <parent link="hand_part_13"/>
        <child link="hand_part_13_sensor_0_left"/>
        <origin xyz="0 0.1 0"
                rpy="0 0 0"/>
        <axis xyz="0 1 0"/>
        
    </joint>


    <!-- hand_part_13_sensor_0_right -->
    <link name="hand_part_13_sensor_0_right">
        <inertial>
            <origin xyz="0 0 0" rpy="0 0 0"/>
            <mass value="0"/>
            <inertia ixx=".1" ixy=".1" ixz=".1" iyy=".1" iyz=".1" izz=".1"/>
        </inertial>
        <visual>
            <origin xyz="0 0 0" rpy="0 0 0"/>
            <geometry>
                <box size="0.3901806440322565 0.02 1"/>
            </geometry>
        </visual>
        <collision>
            <origin xyz="0 0 0" rpy="0 0 0"/>
            <geometry>
                <box size="0.3901806440322565 0.02 1"/>
            </geometry>
        </collision>
    </link>
    <!-- Joint: hand_part_13, hand_part_13_sensor_0_right -->
    <joint name="hand_part_13_hand_part_13_sensor_0_right_joint" type="fixed">
        <parent link="hand_part_13"/>
        <child link="hand_part_13_sensor_0_right"/>
        <origin xyz="0 -0.1 0"
                rpy="0 0 0"/>
        <axis xyz="0 1 0"/>
        
    </joint>
    <!-- Joint: hand_part_0, hand_part_13 -->
    <joint name="hand_part_0_hand_part_13_joint" type="fixed">
        <parent link="hand_part_0"/>
        <child link="hand_part_13"/>
        <origin xyz="-0.6054550028853648 -0.9061274463528876 0"
                rpy="0 0 3.5342917352885177"/>
        <axis xyz="0 1 0"/>
        
    </joint>


    <!-- hand_part_14 -->
    <link name="hand_part_14">
        <inertial>
            <origin xyz="0 0 0" rpy="0 0 0"/>
            <mass value="2"/>
            <inertia ixx=".1" ixy=".1" ixz=".1" iyy=".1" iyz=".1" izz=".1"/>
        </inertial>
        <visual>
            <origin xyz="0 0 0" rpy="0 0 0"/>
            <geometry>
                <box size="0.3901806440322565 0.2 1"/>
            </geometry>
        </visual>
        <collision>
            <origin xyz="0 0 0" rpy="0 0 0"/>
            <geometry>
                <box size="0.3901806440322565 0.2 1"/>
            </geometry>
        </collision>
    </link>


    <!-- hand_part_14_sensor_0_top -->
    <link name="hand_part_14_sensor_0_top">
        <inertial>
            <origin xyz="0 0 0" rpy="0 0 0"/>
            <mass value="0"/>
            <inertia ixx=".1" ixy=".1" ixz=".1" iyy=".1" iyz=".1" izz=".1"/>
        </inertial>
        <visual>
            <origin xyz="0 0 0" rpy="0 0 0"/>
            <geometry>
                <box size="0.3901806440322565 0.2 0.02"/>
            </geometry>
        </visual>
        <collision>
            <origin xyz="0 0 0" rpy="0 0 0"/>
            <geometry>
                <box size="0.3901806440322565 0.2 0.02"/>
            </geometry>
        </collision>
    </link>
    <!-- Joint: hand_part_14, hand_part_14_sensor_0_top -->
    <joint name="hand_part_14_hand_part_14_sensor_0_top_joint" type="fixed">
        <parent link="hand_part_14"/>
        <child link="hand_part_14_sensor_0_top"/>
        <origin xyz="0 0 0.5"
                rpy="0 0 0"/>
        <axis xyz="0 1 0"/>
        
    </joint>


    <!-- hand_part_14_sensor_0_bottom -->
    <link name="hand_part_14_sensor_0_bottom">
        <inertial>
            <origin xyz="0 0 0" rpy="0 0 0"/>
            <mass value="0"/>
            <inertia ixx=".1" ixy=".1" ixz=".1" iyy=".1" iyz=".1" izz=".1"/>
        </inertial>
        <visual>
            <origin xyz="0 0 0" rpy="0 0 0"/>
            <geometry>
                <box size="0.3901806440322565 0.2 0.02"/>
            </geometry>
        </visual>
        <collision>
            <origin xyz="0 0 0" rpy="0 0 0"/>
            <geometry>
                <box size="0.3901806440322565 0.2 0.02"/>
            </geometry>
        </collision>
    </link>
    <!-- Joint: hand_part_14, hand_part_14_sensor_0_bottom -->
    <joint name="hand_part_14_hand_part_14_sensor_0_bottom_joint" type="fixed">
        <parent link="hand_part_14"/>
        <child link="hand_part_14_sensor_0_bottom"/>
        <origin xyz="0 0 -0.5"
                rpy="0 0 0"/>
        <axis xyz="0 1 0"/>
        
    </joint>


    <!-- hand_part_14_sensor_0_left -->
    <link name="hand_part_14_sensor_0_left">
        <inertial>
            <origin xyz="0 0 0" rpy="0 0 0"/>
            <mass value="0"/>
            <inertia ixx=".1" ixy=".1" ixz=".1" iyy=".1" iyz=".1" izz=".1"/>
        </inertial>
        <visual>
            <origin xyz="0 0 0" rpy="0 0 0"/>
            <geometry>
                <box size="0.3901806440322565 0.02 1"/>
            </geometry>
        </visual>
        <collision>
            <origin xyz="0 0 0" rpy="0 0 0"/>
            <geometry>
                <box size="0.3901806440322565 0.02 1"/>
            </geometry>
        </collision>
    </link>
    <!-- Joint: hand_part_14, hand_part_14_sensor_0_left -->
    <joint name="hand_part_14_hand_part_14_sensor_0_left_joint" type="fixed">
        <parent link="hand_part_14"/>
        <child link="hand_part_14_sensor_0_left"/>
        <origin xyz="0 0.1 0"
                rpy="0 0 0"/>
        <axis xyz="0 1 0"/>
        
    </joint>


    <!-- hand_part_14_sensor_0_right -->
    <link name="hand_part_14_sensor_0_right">
        <inertial>
            <origin xyz="0 0 0" rpy="0 0 0"/>
            <mass value="0"/>
            <inertia ixx=".1" ixy=".1" ixz=".1" iyy=".1" iyz=".1" izz=".1"/>
        </inertial>
        <visual>
            <origin xyz="0 0 0" rpy="0 0 0"/>
            <geometry>
                <box size="0.3901806440322565 0.02 1"/>
            </geometry>
        </visual>
        <collision>
            <origin xyz="0 0 0" rpy="0 0 0"/>
            <geometry>
                <box size="0.3901806440322565 0.02 1"/>
            </geometry>
        </collision>
    </link>
    <!-- Joint: hand_part_14, hand_part_14_sensor_0_right -->
    <joint name="hand_part_14_hand_part_14_sensor_0_right_joint" type="fixed">
        <parent link="hand_part_14"/>
        <child link="hand_part_14_sensor_0_right"/>
        <origin xyz="0 -0.1 0"
                rpy="0 0 0"/>
        <axis xyz="0 1 0"/>
        
    </joint>
    <!-- Joint: hand_part_0, hand_part_14 -->
    <joint name="hand_part_0_hand_part_14_joint" type="fixed">
        <parent link="hand_part_0"/>
        <child link="hand_part_14"/>
        <origin xyz="-0.28726535774215683 -0.6935199226610738 0"
                rpy="0 0 3.9269908169872414"/>
        <axis xyz="0 1 0"/>
        
    </joint>


    <!-- hand_part_15 -->
    <link name="hand_part_15">
        <inertial>
            <origin xyz="0 0 0" rpy="0 0 0"/>
            <mass value="2"/>
            <inertia ixx=".1" ixy=".1" ixz=".1" iyy=".1" iyz=".1" izz=".1"/>
        </inertial>
        <visual>
            <origin xyz="0 0 0" rpy="0 0 0"/>
            <geometry>
                <box size="0.3901806440322565 0.2 1"/>
            </geometry>
        </visual>
        <collision>
            <origin xyz="0 0 0" rpy="0 0 0"/>
            <geometry>
                <box size="0.3901806440322565 0.2 1"/>
            </geometry>
        </collision>
    </link>


    <!-- hand_part_15_sensor_0_top -->
    <link name="hand_part_15_sensor_0_top">
        <inertial>
            <origin xyz="0 0 0" rpy="0 0 0"/>
            <mass value="0"/>
            <inertia ixx=".1" ixy=".1" ixz=".1" iyy=".1" iyz=".1" izz=".1"/>
        </inertial>
        <visual>
            <origin xyz="0 0 0" rpy="0 0 0"/>
            <geometry>
                <box size="0.3901806440322565 0.2 0.02"/>
            </geometry>
        </visual>
        <collision>
            <origin xyz="0 0 0" rpy="0 0 0"/>
            <geometry>
                <box size="0.3901806440322565 0.2 0.02"/>
            </geometry>
        </collision>
    </link>
    <!-- Joint: hand_part_15, hand_part_15_sensor_0_top -->
    <joint name="hand_part_15_hand_part_15_sensor_0_top_joint" type="fixed">
        <parent link="hand_part_15"/>
        <child link="hand_part_15_sensor_0_top"/>
        <origin xyz="0 0 0.5"
                rpy="0 0 0"/>
        <axis xyz="0 1 0"/>
        
    </joint>


    <!-- hand_part_15_sensor_0_bottom -->
    <link name="hand_part_15_sensor_0_bottom">
        <inertial>
            <origin xyz="0 0 0" rpy="0 0 0"/>
            <mass value="0"/>
            <inertia ixx=".1" ixy=".1" ixz=".1" iyy=".1" iyz=".1" izz=".1"/>
        </inertial>
        <visual>
            <origin xyz="0 0 0" rpy="0 0 0"/>
            <geometry>
                <box size="0.3901806440322565 0.2 0.02"/>
            </geometry>
        </visual>
        <collision>
            <origin xyz="0 0 0" rpy="0 0 0"/>
            <geometry>
                <box size="0.3901806440322565 0.2 0.02"/>
            </geometry>
        </collision>
    </link>
    <!-- Joint: hand_part_15, hand_part_15_sensor_0_bottom -->
    <joint name="hand_part_15_hand_part_15_sensor_0_bottom_joint" type="fixed">
        <parent link="hand_part_15"/>
        <child link="hand_part_15_sensor_0_bottom"/>
        <origin xyz="0 0 -0.5"
                rpy="0 0 0"/>
        <axis xyz="0 1 0"/>
        
    </joint>


    <!-- hand_part_15_sensor_0_left -->
    <link name="hand_part_15_sensor_0_left">
        <inertial>
            <origin xyz="0 0 0" rpy="0 0 0"/>
            <mass value="0"/>
            <inertia ixx=".1" ixy=".1" ixz=".1" iyy=".1" iyz=".1" izz=".1"/>
        </inertial>
        <visual>
            <origin xyz="0 0 0" rpy="0 0 0"/>
            <geometry>
                <box size="0.3901806440322565 0.02 1"/>
            </geometry>
        </visual>
        <collision>
            <origin xyz="0 0 0" rpy="0 0 0"/>
            <geometry>
                <box size="0.3901806440322565 0.02 1"/>
            </geometry>
        </collision>
    </link>
    <!-- Joint: hand_part_15, hand_part_15_sensor_0_left -->
    <joint name="hand_part_15_hand_part_15_sensor_0_left_joint" type="fixed">
        <parent link="hand_part_15"/>
        <child link="hand_part_15_sensor_0_left"/>
        <origin xyz="0 0.1 0"
                rpy="0 0 0"/>
        <axis xyz="0 1 0"/>
        
    </joint>


    <!-- hand_part_15_sensor_0_right -->
    <link name="hand_part_15_sensor_0_right">
        <inertial>
            <origin xyz="0 0 0" rpy="0 0 0"/>
            <mass value="0"/>
            <inertia ixx=".1" ixy=".1" ixz=".1" iyy=".1" iyz=".1" izz=".1"/>
        </inertial>
        <visual>
            <origin xyz="0 0 0" rpy="0 0 0"/>
            <geometry>
                <box size="0.3901806440322565 0.02 1"/>
            </geometry>
        </visual>
        <collision>
            <origin xyz="0 0 0" rpy="0 0 0"/>
            <geometry>
                <box size="0.3901806440322565 0.02 1"/>
            </geometry>
        </collision>
    </link>
    <!-- Joint: hand_part_15, hand_part_15_sensor_0_right -->
    <joint name="hand_part_15_hand_part_15_sensor_0_right_joint" type="fixed">
        <parent link="hand_part_15"/>
        <child link="hand_part_15_sensor_0_right"/>
        <origin xyz="0 -0.1 0"
                rpy="0 0 0"/>
        <axis xyz="0 1 0"/>
        
    </joint>
    <!-- Joint: hand_part_0, hand_part_15 -->
    <joint name="hand_part_0_hand_part_15_joint" type="fixed">
        <parent link="hand_part_0"/>
        <child link="hand_part_15"/>
        <origin xyz="-0.07465783405034283 -0.3753302775178658 0"
                rpy="0 0 4.319689898685965"/>
        <axis xyz="0 1 0"/>
        
    </joint>


    <!-- body_face_front_0 -->
    <link name="body_face_front_0">
        <inertial>
            <origin xyz="0 0 0" rpy="0 0 0"/>
            <mass value="0"/>
            <inertia ixx=".1" ixy=".1" ixz=".1" iyy=".1" iyz=".1" izz=".1"/>
        </inertial>
        <visual>
            <origin xyz="0 0 0" rpy="0 0 0"/>
            <geometry>
                <box size="0.002 0.1111111111111111 0.1111111111111111"/>
            </geometry>
        </visual>
        <collision>
            <origin xyz="0 0 0" rpy="0 0 0"/>
            <geometry>
                <box size="0.002 0.1111111111111111 0.1111111111111111"/>
            </geometry>
        </collision>
    </link>
    <!-- Joint: body, body_face_front_0 -->
    <joint name="body_body_face_front_0_joint" type="fixed">
        <parent link="body"/>
        <child link="body_face_front_0"/>
        <origin xyz="0.501 -0.33333333333333337 0.11111111111111116"
                rpy="0 0 0"/>
        <axis xyz="0 0 1"/>
        
    </joint>


    <!-- body_face_front_1 -->
    <link name="body_face_front_1">
        <inertial>
            <origin xyz="0 0 0" rpy="0 0 0"/>
            <mass value="0"/>
            <inertia ixx=".1" ixy=".1" ixz=".1" iyy=".1" iyz=".1" izz=".1"/>
        </inertial>
        <visual>
            <origin xyz="0 0 0" rpy="0 0 0"/>
            <geometry>
                <box size="0.002 0.1111111111111111 0.1111111111111111"/>
            </geometry>
        </visual>
        <collision>
            <origin xyz="0 0 0" rpy="0 0 0"/>
            <geometry>
                <box size="0.002 0.1111111111111111 0.1111111111111111"/>
            </geometry>
        </collision>
    </link>
    <!-- Joint: body, body_face_front_1 -->
    <joint name="body_body_face_front_1_joint" type="fixed">
        <parent link="body"/>
        <child link="body_face_front_1"/>
        <origin xyz="0.501 -0.2222222222222222 0.2222222222222222"
                rpy="0 0 0"/>
        <axis xyz="0 0 1"/>
        
    </joint>


    <!-- body_face_front_2 -->
    <link name="body_face_front_2">
        <inertial>
            <origin xyz="0 0 0" rpy="0 0 0"/>
            <mass value="0"/>
            <inertia ixx=".1" ixy=".1" ixz=".1" iyy=".1" iyz=".1" izz=".1"/>
        </inertial>
        <visual>
            <origin xyz="0 0 0" rpy="0 0 0"/>
            <geometry>
                <box size="0.002 0.1111111111111111 0.1111111111111111"/>
            </geometry>
        </visual>
        <collision>
            <origin xyz="0 0 0" rpy="0 0 0"/>
            <geometry>
                <box size="0.002 0.1111111111111111 0.1111111111111111"/>
            </geometry>
        </collision>
    </link>
    <!-- Joint: body, body_face_front_2 -->
    <joint name="body_body_face_front_2_joint" type="fixed">
        <parent link="body"/>
        <child link="body_face_front_2"/>
        <origin xyz="0.501 -0.1111111111111111 0.11111111111111116"
                rpy="0 0 0"/>
        <axis xyz="0 0 1"/>
        
    </joint>


    <!-- body_face_front_3 -->
    <link name="body_face_front_3">
        <inertial>
            <origin xyz="0 0 0" rpy="0 0 0"/>
            <mass value="0"/>
            <inertia ixx=".1" ixy=".1" ixz=".1" iyy=".1" iyz=".1" izz=".1"/>
        </inertial>
        <visual>
            <origin xyz="0 0 0" rpy="0 0 0"/>
            <geometry>
                <box size="0.002 0.1111111111111111 0.1111111111111111"/>
            </geometry>
        </visual>
        <collision>
            <origin xyz="0 0 0" rpy="0 0 0"/>
            <geometry>
                <box size="0.002 0.1111111111111111 0.1111111111111111"/>
            </geometry>
        </collision>
    </link>
    <!-- Joint: body, body_face_front_3 -->
    <joint name="body_body_face_front_3_joint" type="fixed">
        <parent link="body"/>
        <child link="body_face_front_3"/>
        <origin xyz="0.501 -0.1111111111111111 -0.2222222222222222"
                rpy="0 0 0"/>
        <axis xyz="0 0 1"/>
        
    </joint>


    <!-- body_face_front_4 -->
    <link name="body_face_front_4">
        <inertial>
            <origin xyz="0 0 0" rpy="0 0 0"/>
            <mass value="0"/>
            <inertia ixx=".1" ixy=".1" ixz=".1" iyy=".1" iyz=".1" izz=".1"/>
        </inertial>
        <visual>
            <origin xyz="0 0 0" rpy="0 0 0"/>
            <geometry>
                <box size="0.002 0.1111111111111111 0.1111111111111111"/>
            </geometry>
        </visual>
        <collision>
            <origin xyz="0 0 0" rpy="0 0 0"/>
            <geometry>
                <box size="0.002 0.1111111111111111 0.1111111111111111"/>
            </geometry>
        </collision>
    </link>
    <!-- Joint: body, body_face_front_4 -->
    <joint name="body_body_face_front_4_joint" type="fixed">
        <parent link="body"/>
        <child link="body_face_front_4"/>
        <origin xyz="0.501 0.0 -0.2222222222222222"
                rpy="0 0 0"/>
        <axis xyz="0 0 1"/>
        
    </joint>


    <!-- body_face_front_5 -->
    <link name="body_face_front_5">
        <inertial>
            <origin xyz="0 0 0" rpy="0 0 0"/>
            <mass value="0"/>
            <inertia ixx=".1" ixy=".1" ixz=".1" iyy=".1" iyz=".1" izz=".1"/>
        </inertial>
        <visual>
            <origin xyz="0 0 0" rpy="0 0 0"/>
            <geometry>
                <box size="0.002 0.1111111111111111 0.1111111111111111"/>
            </geometry>
        </visual>
        <collision>
            <origin xyz="0 0 0" rpy="0 0 0"/>
            <geometry>
                <box size="0.002 0.1111111111111111 0.1111111111111111"/>
            </geometry>
        </collision>
    </link>
    <!-- Joint: body, body_face_front_5 -->
    <joint name="body_body_face_front_5_joint" type="fixed">
        <parent link="body"/>
        <child link="body_face_front_5"/>
        <origin xyz="0.501 0.11111111111111116 0.11111111111111116"
                rpy="0 0 0"/>
        <axis xyz="0 0 1"/>
        
    </joint>


    <!-- body_face_front_6 -->
    <link name="body_face_front_6">
        <inertial>
            <origin xyz="0 0 0" rpy="0 0 0"/>
            <mass value="0"/>
            <inertia ixx=".1" ixy=".1" ixz=".1" iyy=".1" iyz=".1" izz=".1"/>
        </inertial>
        <visual>
            <origin xyz="0 0 0" rpy="0 0 0"/>
            <geometry>
                <box size="0.002 0.1111111111111111 0.1111111111111111"/>
            </geometry>
        </visual>
        <collision>
            <origin xyz="0 0 0" rpy="0 0 0"/>
            <geometry>
                <box size="0.002 0.1111111111111111 0.1111111111111111"/>
            </geometry>
        </collision>
    </link>
    <!-- Joint: body, body_face_front_6 -->
    <joint name="body_body_face_front_6_joint" type="fixed">
        <parent link="body"/>
        <child link="body_face_front_6"/>
        <origin xyz="0.501 0.11111111111111116 -0.2222222222222222"
                rpy="0 0 0"/>
        <axis xyz="0 0 1"/>
        
    </joint>


    <!-- body_face_front_7 -->
    <link name="body_face_front_7">
        <inertial>
            <origin xyz="0 0 0" rpy="0 0 0"/>
            <mass value="0"/>
            <inertia ixx=".1" ixy=".1" ixz=".1" iyy=".1" iyz=".1" izz=".1"/>
        </inertial>
        <visual>
            <origin xyz="0 0 0" rpy="0 0 0"/>
            <geometry>
                <box size="0.002 0.1111111111111111 0.1111111111111111"/>
            </geometry>
        </visual>
        <collision>
            <origin xyz="0 0 0" rpy="0 0 0"/>
            <geometry>
                <box size="0.002 0.1111111111111111 0.1111111111111111"/>
            </geometry>
        </collision>
    </link>
    <!-- Joint: body, body_face_front_7 -->
    <joint name="body_body_face_front_7_joint" type="fixed">
        <parent link="body"/>
        <child link="body_face_front_7"/>
        <origin xyz="0.501 0.2222222222222222 0.2222222222222222"
                rpy="0 0 0"/>
        <axis xyz="0 0 1"/>
        
    </joint>


    <!-- body_face_front_8 -->
    <link name="body_face_front_8">
        <inertial>
            <origin xyz="0 0 0" rpy="0 0 0"/>
            <mass value="0"/>
            <inertia ixx=".1" ixy=".1" ixz=".1" iyy=".1" iyz=".1" izz=".1"/>
        </inertial>
        <visual>
            <origin xyz="0 0 0" rpy="0 0 0"/>
            <geometry>
                <box size="0.002 0.1111111111111111 0.1111111111111111"/>
            </geometry>
        </visual>
        <collision>
            <origin xyz="0 0 0" rpy="0 0 0"/>
            <geometry>
                <box size="0.002 0.1111111111111111 0.1111111111111111"/>
            </geometry>
        </collision>
    </link>
    <!-- Joint: body, body_face_front_8 -->
    <joint name="body_body_face_front_8_joint" type="fixed">
        <parent link="body"/>
        <child link="body_face_front_8"/>
        <origin xyz="0.501 0.33333333333333337 0.11111111111111116"
                rpy="0 0 0"/>
        <axis xyz="0 0 1"/>
        
    </joint>


    <!-- body_face_top_0 -->
    <link name="body_face_top_0">
        <inertial>
            <origin xyz="0 0 0" rpy="0 0 0"/>
            <mass value="0"/>
            <inertia ixx=".1" ixy=".1" ixz=".1" iyy=".1" iyz=".1" izz=".1"/>
        </inertial>
        <visual>
            <origin xyz="0 0 0" rpy="0 0 0"/>
            <geometry>
                <box size="0.1111111111111111 0.1111111111111111 0.002"/>
            </geometry>
        </visual>
        <collision>
            <origin xyz="0 0 0" rpy="0 0 0"/>
            <geometry>
                <box size="0.1111111111111111 0.1111111111111111 0.002"/>
            </geometry>
        </collision>
    </link>
    <!-- Joint: body, body_face_top_0 -->
    <joint name="body_body_face_top_0_joint" type="fixed">
        <parent link="body"/>
        <child link="body_face_top_0"/>
        <origin xyz="0.11111111111111116 -0.2222222222222222 0.501"
                rpy="0 0 0"/>
        <axis xyz="0 0 1"/>
        
    </joint>


    <!-- body_face_top_1 -->
    <link name="body_face_top_1">
        <inertial>
            <origin xyz="0 0 0" rpy="0 0 0"/>
            <mass value="0"/>
            <inertia ixx=".1" ixy=".1" ixz=".1" iyy=".1" iyz=".1" izz=".1"/>
        </inertial>
        <visual>
            <origin xyz="0 0 0" rpy="0 0 0"/>
            <geometry>
                <box size="0.1111111111111111 0.1111111111111111 0.002"/>
            </geometry>
        </visual>
        <collision>
            <origin xyz="0 0 0" rpy="0 0 0"/>
            <geometry>
                <box size="0.1111111111111111 0.1111111111111111 0.002"/>
            </geometry>
        </collision>
    </link>
    <!-- Joint: body, body_face_top_1 -->
    <joint name="body_body_face_top_1_joint" type="fixed">
        <parent link="body"/>
        <child link="body_face_top_1"/>
        <origin xyz="0.11111111111111116 -0.1111111111111111 0.501"
                rpy="0 0 0"/>
        <axis xyz="0 0 1"/>
        
    </joint>


    <!-- body_face_top_2 -->
    <link name="body_face_top_2">
        <inertial>
            <origin xyz="0 0 0" rpy="0 0 0"/>
            <mass value="0"/>
            <inertia ixx=".1" ixy=".1" ixz=".1" iyy=".1" iyz=".1" izz=".1"/>
        </inertial>
        <visual>
            <origin xyz="0 0 0" rpy="0 0 0"/>
            <geometry>
                <box size="0.1111111111111111 0.1111111111111111 0.002"/>
            </geometry>
        </visual>
        <collision>
            <origin xyz="0 0 0" rpy="0 0 0"/>
            <geometry>
                <box size="0.1111111111111111 0.1111111111111111 0.002"/>
            </geometry>
        </collision>
    </link>
    <!-- Joint: body, body_face_top_2 -->
    <joint name="body_body_face_top_2_joint" type="fixed">
        <parent link="body"/>
        <child link="body_face_top_2"/>
        <origin xyz="0.2222222222222222 -0.1111111111111111 0.501"
                rpy="0 0 0"/>
        <axis xyz="0 0 1"/>
        
    </joint>


    <!-- body_face_top_3 -->
    <link name="body_face_top_3">
        <inertial>
            <origin xyz="0 0 0" rpy="0 0 0"/>
            <mass value="0"/>
            <inertia ixx=".1" ixy=".1" ixz=".1" iyy=".1" iyz=".1" izz=".1"/>
        </inertial>
        <visual>
            <origin xyz="0 0 0" rpy="0 0 0"/>
            <geometry>
                <box size="0.1111111111111111 0.1111111111111111 0.002"/>
            </geometry>
        </visual>
        <collision>
            <origin xyz="0 0 0" rpy="0 0 0"/>
            <geometry>
                <box size="0.1111111111111111 0.1111111111111111 0.002"/>
            </geometry>
        </collision>
    </link>
    <!-- Joint: body, body_face_top_3 -->
    <joint name="body_body_face_top_3_joint" type="fixed">
        <parent link="body"/>
        <child link="body_face_top_3"/>
        <origin xyz="-0.33333333333333337 0.0 0.501"
                rpy="0 0 0"/>
        <axis xyz="0 0 1"/>
        
    </joint>


    <!-- body_face_top_4 -->
    <link name="body_face_top_4">
        <inertial>
            <origin xyz="0 0 0" rpy="0 0 0"/>
            <mass value="0"/>
            <inertia ixx=".1" ixy=".1" ixz=".1" iyy=".1" iyz=".1" izz=".1"/>
        </inertial>
        <visual>
            <origin xyz="0 0 0" rpy="0 0 0"/>
            <geometry>
                <box size="0.1111111111111111 0.1111111111111111 0.002"/>
            </geometry>
        </visual>
        <collision>
            <origin xyz="0 0 0" rpy="0 0 0"/>
            <geometry>
                <box size="0.1111111111111111 0.1111111111111111 0.002"/>
            </geometry>
        </collision>
    </link>
    <!-- Joint: body, body_face_top_4 -->
    <joint name="body_body_face_top_4_joint" type="fixed">
        <parent link="body"/>
        <child link="body_face_top_4"/>
        <origin xyz="-0.2222222222222222 0.0 0.501"
                rpy="0 0 0"/>
        <axis xyz="0 0 1"/>
        
    </joint>


    <!-- body_face_top_5 -->
    <link name="body_face_top_5">
        <inertial>
            <origin xyz="0 0 0" rpy="0 0 0"/>
            <mass value="0"/>
            <inertia ixx=".1" ixy=".1" ixz=".1" iyy=".1" iyz=".1" izz=".1"/>
        </inertial>
        <visual>
            <origin xyz="0 0 0" rpy="0 0 0"/>
            <geometry>
                <box size="0.1111111111111111 0.1111111111111111 0.002"/>
            </geometry>
        </visual>
        <collision>
            <origin xyz="0 0 0" rpy="0 0 0"/>
            <geometry>
                <box size="0.1111111111111111 0.1111111111111111 0.002"/>
            </geometry>
        </collision>
    </link>
    <!-- Joint: body, body_face_top_5 -->
    <joint name="body_body_face_top_5_joint" type="fixed">
        <parent link="body"/>
        <child link="body_face_top_5"/>
        <origin xyz="-0.1111111111111111 0.0 0.501"
                rpy="0 0 0"/>
        <axis xyz="0 0 1"/>
        
    </joint>


    <!-- body_face_top_6 -->
    <link name="body_face_top_6">
        <inertial>
            <origin xyz="0 0 0" rpy="0 0 0"/>
            <mass value="0"/>
            <inertia ixx=".1" ixy=".1" ixz=".1" iyy=".1" iyz=".1" izz=".1"/>
        </inertial>
        <visual>
            <origin xyz="0 0 0" rpy="0 0 0"/>
            <geometry>
                <box size="0.1111111111111111 0.1111111111111111 0.002"/>
            </geometry>
        </visual>
        <collision>
            <origin xyz="0 0 0" rpy="0 0 0"/>
            <geometry>
                <box size="0.1111111111111111 0.1111111111111111 0.002"/>
            </geometry>
        </collision>
    </link>
    <!-- Joint: body, body_face_top_6 -->
    <joint name="body_body_face_top_6_joint" type="fixed">
        <parent link="body"/>
        <child link="body_face_top_6"/>
        <origin xyz="0.0 0.0 0.501"
                rpy="0 0 0"/>
        <axis xyz="0 0 1"/>
        
    </joint>


    <!-- body_face_top_7 -->
    <link name="body_face_top_7">
        <inertial>
            <origin xyz="0 0 0" rpy="0 0 0"/>
            <mass value="0"/>
            <inertia ixx=".1" ixy=".1" ixz=".1" iyy=".1" iyz=".1" izz=".1"/>
        </inertial>
        <visual>
            <origin xyz="0 0 0" rpy="0 0 0"/>
            <geometry>
                <box size="0.1111111111111111 0.1111111111111111 0.002"/>
            </geometry>
        </visual>
        <collision>
            <origin xyz="0 0 0" rpy="0 0 0"/>
            <geometry>
                <box size="0.1111111111111111 0.1111111111111111 0.002"/>
            </geometry>
        </collision>
    </link>
    <!-- Joint: body, body_face_top_7 -->
    <joint name="body_body_face_top_7_joint" type="fixed">
        <parent link="body"/>
        <child link="body_face_top_7"/>
        <origin xyz="0.11111111111111116 0.0 0.501"
                rpy="0 0 0"/>
        <axis xyz="0 0 1"/>
        
    </joint>


    <!-- body_face_top_8 -->
    <link name="body_face_top_8">
        <inertial>
            <origin xyz="0 0 0" rpy="0 0 0"/>
            <mass value="0"/>
            <inertia ixx=".1" ixy=".1" ixz=".1" iyy=".1" iyz=".1" izz=".1"/>
        </inertial>
        <visual>
            <origin xyz="0 0 0" rpy="0 0 0"/>
            <geometry>
                <box size="0.1111111111111111 0.1111111111111111 0.002"/>
            </geometry>
        </visual>
        <collision>
            <origin xyz="0 0 0" rpy="0 0 0"/>
            <geometry>
                <box size="0.1111111111111111 0.1111111111111111 0.002"/>
            </geometry>
        </collision>
    </link>
    <!-- Joint: body, body_face_top_8 -->
    <joint name="body_body_face_top_8_joint" type="fixed">
        <parent link="body"/>
        <child link="body_face_top_8"/>
        <origin xyz="0.2222222222222222 0.0 0.501"
                rpy="0 0 0"/>
        <axis xyz="0 0 1"/>
        
    </joint>


    <!-- body_face_top_9 -->
    <link name="body_face_top_9">
        <inertial>
            <origin xyz="0 0 0" rpy="0 0 0"/>
            <mass value="0"/>
            <inertia ixx=".1" ixy=".1" ixz=".1" iyy=".1" iyz=".1" izz=".1"/>
        </inertial>
        <visual>
            <origin xyz="0 0 0" rpy="0 0 0"/>
            <geometry>
                <box size="0.1111111111111111 0.1111111111111111 0.002"/>
            </geometry>
        </visual>
        <collision>
            <origin xyz="0 0 0" rpy="0 0 0"/>
            <geometry>
                <box size="0.1111111111111111 0.1111111111111111 0.002"/>
            </geometry>
        </collision>
    </link>
    <!-- Joint: body, body_face_top_9 -->
    <joint name="body_body_face_top_9_joint" type="fixed">
        <parent link="body"/>
        <child link="body_face_top_9"/>
        <origin xyz="0.33333333333333337 0.0 0.501"
                rpy="0 0 0"/>
        <axis xyz="0 0 1"/>
        
    </joint>


    <!-- body_face_top_10 -->
    <link name="body_face_top_10">
        <inertial>
            <origin xyz="0 0 0" rpy="0 0 0"/>
            <mass value="0"/>
            <inertia ixx=".1" ixy=".1" ixz=".1" iyy=".1" iyz=".1" izz=".1"/>
        </inertial>
        <visual>
            <origin xyz="0 0 0" rpy="0 0 0"/>
            <geometry>
                <box size="0.1111111111111111 0.1111111111111111 0.002"/>
            </geometry>
        </visual>
        <collision>
            <origin xyz="0 0 0" rpy="0 0 0"/>
            <geometry>
                <box size="0.1111111111111111 0.1111111111111111 0.002"/>
            </geometry>
        </collision>
    </link>
    <!-- Joint: body, body_face_top_10 -->
    <joint name="body_body_face_top_10_joint" type="fixed">
        <parent link="body"/>
        <child link="body_face_top_10"/>
        <origin xyz="0.11111111111111116 0.11111111111111116 0.501"
                rpy="0 0 0"/>
        <axis xyz="0 0 1"/>
        
    </joint>


    <!-- body_face_top_11 -->
    <link name="body_face_top_11">
        <inertial>
            <origin xyz="0 0 0" rpy="0 0 0"/>
            <mass value="0"/>
            <inertia ixx=".1" ixy=".1" ixz=".1" iyy=".1" iyz=".1" izz=".1"/>
        </inertial>
        <visual>
            <origin xyz="0 0 0" rpy="0 0 0"/>
            <geometry>
                <box size="0.1111111111111111 0.1111111111111111 0.002"/>
            </geometry>
        </visual>
        <collision>
            <origin xyz="0 0 0" rpy="0 0 0"/>
            <geometry>
                <box size="0.1111111111111111 0.1111111111111111 0.002"/>
            </geometry>
        </collision>
    </link>
    <!-- Joint: body, body_face_top_11 -->
    <joint name="body_body_face_top_11_joint" type="fixed">
        <parent link="body"/>
        <child link="body_face_top_11"/>
        <origin xyz="0.2222222222222222 0.11111111111111116 0.501"
                rpy="0 0 0"/>
        <axis xyz="0 0 1"/>
        
    </joint>


    <!-- body_face_top_12 -->
    <link name="body_face_top_12">
        <inertial>
            <origin xyz="0 0 0" rpy="0 0 0"/>
            <mass value="0"/>
            <inertia ixx=".1" ixy=".1" ixz=".1" iyy=".1" iyz=".1" izz=".1"/>
        </inertial>
        <visual>
            <origin xyz="0 0 0" rpy="0 0 0"/>
            <geometry>
                <box size="0.1111111111111111 0.1111111111111111 0.002"/>
            </geometry>
        </visual>
        <collision>
            <origin xyz="0 0 0" rpy="0 0 0"/>
            <geometry>
                <box size="0.1111111111111111 0.1111111111111111 0.002"/>
            </geometry>
        </collision>
    </link>
    <!-- Joint: body, body_face_top_12 -->
    <joint name="body_body_face_top_12_joint" type="fixed">
        <parent link="body"/>
        <child link="body_face_top_12"/>
        <origin xyz="0.11111111111111116 0.2222222222222222 0.501"
                rpy="0 0 0"/>
        <axis xyz="0 0 1"/>
        
    </joint>


</robot>
